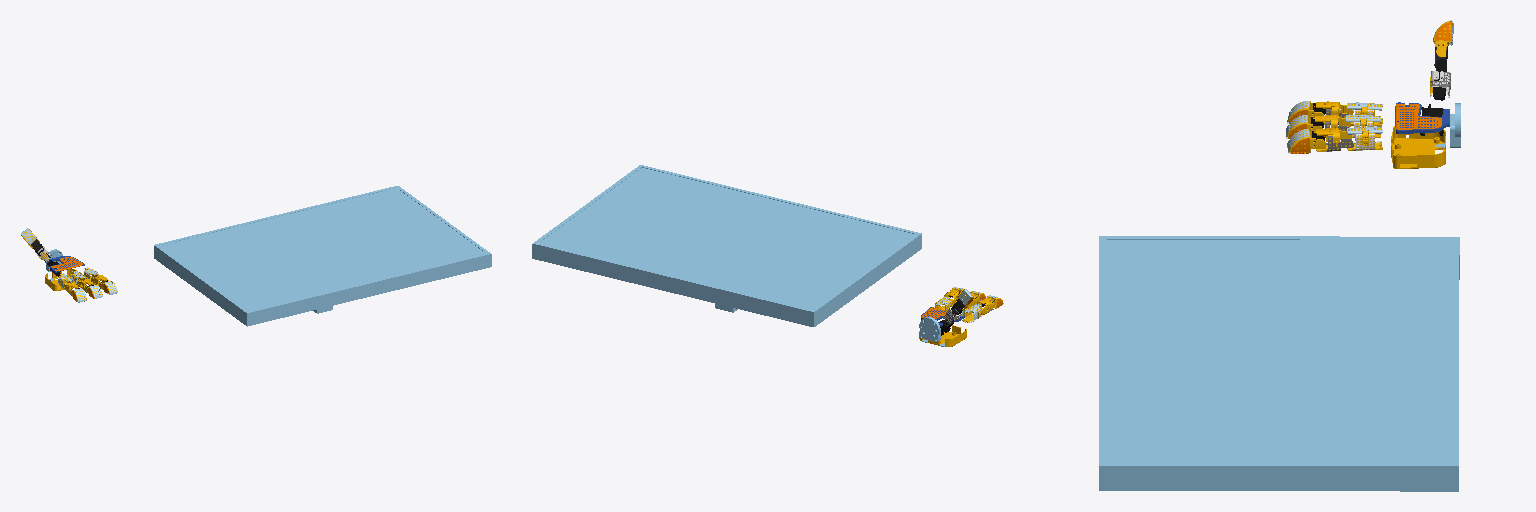
--- What the picture shows (computed from the rendered views, not written in the file) ---
3 views of the same robot in one strip: view 1: azimuth 30°, elevation 25°; view 2: azimuth 150°, elevation 25°; view 3: azimuth 270°, elevation 25° (orthographic).
Model ur5e_2f85 with 80 links and 79 joints (22 revolute, 57 fixed), rooted at world, posed all joints at 0 but 1 set to mid-range because 0 is outside their limits (joint_12_0 = 0.96).
Links seen in each view (by area): view 1: table_top; view 2: table_top; view 3: table_top, boh_bracket, palm_fpcb, palm_bracket.
Link boxes in pixels (box(x1,y1,x2,y2)): table_top: box(154, 186, 491, 326); table_top: box(532, 165, 921, 326); table_top: box(1099, 236, 1459, 491); boh_bracket: box(1391, 126, 1445, 168); palm_fpcb: box(1395, 104, 1441, 129); palm_bracket: box(1396, 102, 1449, 133).
Bounding box of the posed robot: 1.42 × 0.6092 × 0.3935 m (x, y, z).
Meshes: 38 distinct files referenced, 53 mesh visuals loaded (25 binary STL, 1 ASCII STL); not drawn: 19 (reference not matched to a file when rendering).

URDF robot description (ur5e_2f85):
<?xml version="1.0" ?>
<!-- =================================================================================== -->
<!-- |    This document was autogenerated by xacro from ur5e_workstation.urdf.xacro    | -->
<!-- |    EDITING THIS FILE BY HAND IS NOT RECOMMENDED                                 | -->
<!-- =================================================================================== -->
<robot name="ur5e_2f85">
  <!-- WORLD -->
  <link name="world"/>
  <!-- Table -->
  <link name="table_base">
    <visual>
      <origin rpy="0 0 0" xyz="0 0 0"/>
      <geometry>
        <mesh filename="package://coro_descriptions/meshes/small_vention_table.dae"/>
      </geometry>
    </visual>
    <collision>
      <origin rpy="0 0 0" xyz="0 0 0"/>
      <geometry>
        <mesh filename="package://coro_descriptions/meshes/small_vention_table.dae"/>
      </geometry>
    </collision>
    <inertial>
      <origin rpy="0 0 0" xyz="0 0 0"/>
      <mass value="20"/>
      <inertia ixx="1" ixy="0" ixz="0" iyx="0" iyy="1" iyz="0" izx="0" izy="0" izz="1"/>
    </inertial>
  </link>
  <!-- Table top -->
	<link name='table_top'>
		<inertial>
			<origin xyz="1.41182e-16 -6.13716e-17 -0.00229716" rpy="0 0 0"/>
			<mass value="1.88145" />
			<inertia ixx="0.132708" ixy="0"  ixz="0" iyy="0.0587177" iyz="0" izz="0.191419" />
		</inertial>
		<collision>
			<origin xyz="0 0 -0.0047" rpy="0 0 0" />
			<geometry>
				<mesh filename= "package://coro_descriptions/meshes/table_top.stl"/>
			</geometry>
		    <material name="table_top_material">
				<color rgba="0.615686 0.811765 0.929412 1.0"/>
			</material>
		</collision>
		<visual>
			<geometry>
				<mesh filename= "package://coro_descriptions/meshes/table_top.stl"/>
			</geometry>
		    <material name="table_top_material">
				<color rgba="0.615686 0.811765 0.929412 1.0"/>
			</material>>
		</visual>
	</link>

	<joint name='table_top_to_table_base' type='fixed'>
		<origin xyz="0.004217 -0.201201 0.97025" rpy="0 0 1.57"/>
		<parent link="table_base"/>
		<child link="table_top"/>
	</joint>

  <!-- Robot mount -->
  <link name="robot_mount"/>
  <joint name="robot_mount" type="fixed">
    <parent link="table_base"/>
    <child link="robot_mount"/>
    <origin rpy="0 0 3.1416" xyz="-0.0093 0.3375 0.99275"/>
    <!-- Coordinates taken from a CAD assembly -->
  </joint>
  <joint name="table_to_world" type="fixed">
    <parent link="world"/>
    <child link="table_base"/>
    <origin rpy="0 0 0" xyz="0 0 0"/>
  </joint>
  <!--
    Base UR robot series xacro macro.

    NOTE: this is NOT a URDF. It cannot directly be loaded by consumers
    expecting a flattened '.urdf' file. See the top-level '.xacro' for that
    (but note: that .xacro must still be processed by the xacro command).

    For use in '.launch' files: use one of the 'load_urX.launch' convenience
    launch files.

    This file models the base kinematic chain of a UR robot, which then gets
    parameterised by various configuration files to convert it into a UR3(e),
    UR5(e), UR10(e) or UR16e.

    NOTE: the default kinematic parameters (ie: link lengths, frame locations,
    offets, etc) do not correspond to any particular robot. They are defaults
    only. There WILL be non-zero offsets between the Forward Kinematics results
    in TF (ie: robot_state_publisher) and the values reported by the Teach
    Pendant.

    For accurate (and robot-specific) transforms, the 'kinematics_parameters_file'
    parameter MUST point to a .yaml file containing the appropriate values for
    the targetted robot.

    If using the UniversalRobots/Universal_Robots_ROS_Driver, follow the steps
    described in the readme of that repository to extract the kinematic
    calibration from the controller and generate the required .yaml file.

    Main author of the migration to yaml configs: Ludovic Delval.

    Contributors to previous versions (in no particular order):

     - Felix Messmer
     - Kelsey Hawkins
     - Wim Meeussen
     - Shaun Edwards
     - Nadia Hammoudeh Garcia
     - Dave Hershberger
     - G. vd. Hoorn
     - Philip Long
     - Dave Coleman
     - Miguel Prada
     - Mathias Luedtke
     - Marcel Schnirring
     - Felix von Drigalski
     - Felix Exner
     - Jimmy Da Silva
     - Ajit Krisshna N L
     - Muhammad Asif Rana
  -->
  <!--
    NOTE: the macro defined in this file is NOT part of the public API of this
          package. Users CANNOT rely on this file being available, or stored in
          this location. Nor can they rely on the existence of the macro.
  -->
  <transmission name="shoulder_pan_trans">
    <type>transmission_interface/SimpleTransmission</type>
    <joint name="shoulder_pan_joint">
      <hardwareInterface>hardware_interface/PositionJointInterface</hardwareInterface>
    </joint>
    <actuator name="shoulder_pan_motor">
      <mechanicalReduction>1</mechanicalReduction>
    </actuator>
  </transmission>
  <transmission name="shoulder_lift_trans">
    <type>transmission_interface/SimpleTransmission</type>
    <joint name="shoulder_lift_joint">
      <hardwareInterface>hardware_interface/PositionJointInterface</hardwareInterface>
    </joint>
    <actuator name="shoulder_lift_motor">
      <mechanicalReduction>1</mechanicalReduction>
    </actuator>
  </transmission>
  <transmission name="elbow_trans">
    <type>transmission_interface/SimpleTransmission</type>
    <joint name="elbow_joint">
      <hardwareInterface>hardware_interface/PositionJointInterface</hardwareInterface>
    </joint>
    <actuator name="elbow_motor">
      <mechanicalReduction>1</mechanicalReduction>
    </actuator>
  </transmission>
  <transmission name="wrist_1_trans">
    <type>transmission_interface/SimpleTransmission</type>
    <joint name="wrist_1_joint">
      <hardwareInterface>hardware_interface/PositionJointInterface</hardwareInterface>
    </joint>
    <actuator name="wrist_1_motor">
      <mechanicalReduction>1</mechanicalReduction>
    </actuator>
  </transmission>
  <transmission name="wrist_2_trans">
    <type>transmission_interface/SimpleTransmission</type>
    <joint name="wrist_2_joint">
      <hardwareInterface>hardware_interface/PositionJointInterface</hardwareInterface>
    </joint>
    <actuator name="wrist_2_motor">
      <mechanicalReduction>1</mechanicalReduction>
    </actuator>
  </transmission>
  <transmission name="wrist_3_trans">
    <type>transmission_interface/SimpleTransmission</type>
    <joint name="wrist_3_joint">
      <hardwareInterface>hardware_interface/PositionJointInterface</hardwareInterface>
    </joint>
    <actuator name="wrist_3_motor">
      <mechanicalReduction>1</mechanicalReduction>
    </actuator>
  </transmission>
  <!-- links: main serial chain -->
  <link name="base_link"/>
  <link name="base_link_inertia">
    <visual>
      <origin rpy="0 0 3.141592653589793" xyz="0 0 0"/>
      <geometry>
        <mesh filename="package://ur_description/meshes/ur5e/visual/base.dae"/>
      </geometry>
      <material name="LightGrey">
        <color rgba="0.7 0.7 0.7 1.0"/>
      </material>
    </visual>
    <collision>
      <origin rpy="0 0 3.141592653589793" xyz="0 0 0"/>
      <geometry>
        <mesh filename="package://ur_description/meshes/ur5e/collision/base.stl"/>
      </geometry>
    </collision>
    <inertial>
      <mass value="4.0"/>
      <origin rpy="0 0 0" xyz="0 0 0"/>
      <inertia ixx="0.00443333156" ixy="0.0" ixz="0.0" iyy="0.00443333156" iyz="0.0" izz="0.0072"/>
    </inertial>
  </link>
  <link name="shoulder_link">
    <visual>
      <origin rpy="0 0 3.141592653589793" xyz="0 0 0"/>
      <geometry>
        <mesh filename="package://ur_description/meshes/ur5e/visual/shoulder.dae"/>
      </geometry>
      <material name="LightGrey">
        <color rgba="0.7 0.7 0.7 1.0"/>
      </material>
    </visual>
    <collision>
      <origin rpy="0 0 3.141592653589793" xyz="0 0 0"/>
      <geometry>
        <mesh filename="package://ur_description/meshes/ur5e/collision/shoulder.stl"/>
      </geometry>
    </collision>
    <inertial>
      <mass value="3.7"/>
      <origin rpy="0 0 0" xyz="0 0 0"/>
      <inertia ixx="0.010267495893" ixy="0.0" ixz="0.0" iyy="0.010267495893" iyz="0.0" izz="0.00666"/>
    </inertial>
  </link>
  <link name="upper_arm_link">
    <visual>
      <origin rpy="1.5707963267948966 0 -1.5707963267948966" xyz="0 0 0.138"/>
      <geometry>
        <mesh filename="package://ur_description/meshes/ur5e/visual/upperarm.dae"/>
      </geometry>
      <material name="LightGrey">
        <color rgba="0.7 0.7 0.7 1.0"/>
      </material>
    </visual>
    <collision>
      <origin rpy="1.5707963267948966 0 -1.5707963267948966" xyz="0 0 0.138"/>
      <geometry>
        <mesh filename="package://ur_description/meshes/ur5e/collision/upperarm.stl"/>
      </geometry>
    </collision>
    <inertial>
      <mass value="8.393"/>
      <origin rpy="0 1.5707963267948966 0" xyz="-0.2125 0.0 0.138"/>
      <inertia ixx="0.1338857818623325" ixy="0.0" ixz="0.0" iyy="0.1338857818623325" iyz="0.0" izz="0.0151074"/>
    </inertial>
  </link>
  <link name="forearm_link">
    <visual>
      <origin rpy="1.5707963267948966 0 -1.5707963267948966" xyz="0 0 0.007"/>
      <geometry>
        <mesh filename="package://ur_description/meshes/ur5e/visual/forearm.dae"/>
      </geometry>
      <material name="LightGrey">
        <color rgba="0.7 0.7 0.7 1.0"/>
      </material>
    </visual>
    <collision>
      <origin rpy="1.5707963267948966 0 -1.5707963267948966" xyz="0 0 0.007"/>
      <geometry>
        <mesh filename="package://ur_description/meshes/ur5e/collision/forearm.stl"/>
      </geometry>
    </collision>
    <inertial>
      <mass value="2.275"/>
      <origin rpy="0 1.5707963267948966 0" xyz="-0.1961 0.0 0.007"/>
      <inertia ixx="0.031209355099586295" ixy="0.0" ixz="0.0" iyy="0.031209355099586295" iyz="0.0" izz="0.004095"/>
    </inertial>
  </link>
  <link name="wrist_1_link">
    <visual>
      <!-- TODO: Move this to a parameter -->
      <origin rpy="1.5707963267948966 0 0" xyz="0 0 -0.127"/>
      <geometry>
        <mesh filename="package://ur_description/meshes/ur5e/visual/wrist1.dae"/>
      </geometry>
      <material name="LightGrey">
        <color rgba="0.7 0.7 0.7 1.0"/>
      </material>
    </visual>
    <collision>
      <origin rpy="1.5707963267948966 0 0" xyz="0 0 -0.127"/>
      <geometry>
        <mesh filename="package://ur_description/meshes/ur5e/collision/wrist1.stl"/>
      </geometry>
    </collision>
    <inertial>
      <mass value="1.219"/>
      <origin rpy="0 0 0" xyz="0 0 0"/>
      <inertia ixx="0.0025598989760400002" ixy="0.0" ixz="0.0" iyy="0.0025598989760400002" iyz="0.0" izz="0.0021942"/>
    </inertial>
  </link>
  <link name="wrist_2_link">
    <visual>
      <origin rpy="0 0 0" xyz="0 0 -0.0997"/>
      <geometry>
        <mesh filename="package://ur_description/meshes/ur5e/visual/wrist2.dae"/>
      </geometry>
      <material name="LightGrey">
        <color rgba="0.7 0.7 0.7 1.0"/>
      </material>
    </visual>
    <collision>
      <origin rpy="0 0 0" xyz="0 0 -0.0997"/>
      <geometry>
        <mesh filename="package://ur_description/meshes/ur5e/collision/wrist2.stl"/>
      </geometry>
    </collision>
    <inertial>
      <mass value="1.219"/>
      <origin rpy="0 0 0" xyz="0 0 0"/>
      <inertia ixx="0.0025598989760400002" ixy="0.0" ixz="0.0" iyy="0.0025598989760400002" iyz="0.0" izz="0.0021942"/>
    </inertial>
  </link>
  <link name="wrist_3_link">
    <visual>
      <origin rpy="1.5707963267948966 0 1.5707963267948966" xyz="0 0 -0.0989"/>
      <geometry>
        <mesh filename="package://ur_description/meshes/ur5e/visual/wrist3.dae"/>
      </geometry>
      <material name="LightGrey">
        <color rgba="0.7 0.7 0.7 1.0"/>
      </material>
    </visual>
    <collision>
      <origin rpy="1.5707963267948966 0 1.5707963267948966" xyz="0 0 -0.0989"/>
      <geometry>
        <mesh filename="package://ur_description/meshes/ur5e/collision/wrist3.stl"/>
      </geometry>
    </collision>
    <inertial>
      <mass value="0.1879"/>
      <origin rpy="0 0 0" xyz="0.0 0.0 -0.0229"/>
      <inertia ixx="9.890410052167731e-05" ixy="0.0" ixz="0.0" iyy="9.890410052167731e-05" iyz="0.0" izz="0.0001321171875"/>
    </inertial>
  </link>
  <!-- joints: main serial chain -->
  <joint name="base_link-base_link_inertia" type="fixed">
    <parent link="base_link"/>
    <child link="base_link_inertia"/>
    <!-- 'base_link' is REP-103 aligned (so X+ forward), while the internal
           frames of the robot/controller have X+ pointing backwards.
           Use the joint between 'base_link' and 'base_link_inertia' (a dummy
           link/frame) to introduce the necessary rotation over Z (of pi rad).
      -->
    <origin rpy="0 0 3.141592653589793" xyz="0 0 0"/>
  </joint>
  <joint name="shoulder_pan_joint" type="revolute">
    <parent link="base_link_inertia"/>
    <child link="shoulder_link"/>
    <origin rpy="0 0 0" xyz="0 0 0.1625"/>
    <axis xyz="0 0 1"/>
    <limit effort="150.0" lower="-6.283185307179586" upper="6.283185307179586" velocity="3.141592653589793"/>
    <dynamics damping="0" friction="0"/>
  </joint>
  <joint name="shoulder_lift_joint" type="revolute">
    <parent link="shoulder_link"/>
    <child link="upper_arm_link"/>
    <origin rpy="1.570796327 0 0" xyz="0 0 0"/>
    <axis xyz="0 0 1"/>
    <limit effort="150.0" lower="-6.283185307179586" upper="6.283185307179586" velocity="3.141592653589793"/>
    <dynamics damping="0" friction="0"/>
  </joint>
  <joint name="elbow_joint" type="revolute">
    <parent link="upper_arm_link"/>
    <child link="forearm_link"/>
    <origin rpy="0 0 0" xyz="-0.425 0 0"/>
    <axis xyz="0 0 1"/>
    <limit effort="150.0" lower="-3.141592653589793" upper="3.141592653589793" velocity="3.141592653589793"/>
    <dynamics damping="0" friction="0"/>
  </joint>
  <joint name="wrist_1_joint" type="revolute">
    <parent link="forearm_link"/>
    <child link="wrist_1_link"/>
    <origin rpy="0 0 0" xyz="-0.3922 0 0.1333"/>
    <axis xyz="0 0 1"/>
    <limit effort="28.0" lower="-6.283185307179586" upper="6.283185307179586" velocity="3.141592653589793"/>
    <dynamics damping="0" friction="0"/>
  </joint>
  <joint name="wrist_2_joint" type="revolute">
    <parent link="wrist_1_link"/>
    <child link="wrist_2_link"/>
    <origin rpy="1.570796327 0 0" xyz="0 -0.0997 -2.044881182297852e-11"/>
    <axis xyz="0 0 1"/>
    <limit effort="28.0" lower="-6.283185307179586" upper="6.283185307179586" velocity="3.141592653589793"/>
    <dynamics damping="0" friction="0"/>
  </joint>
  <joint name="wrist_3_joint" type="revolute">
    <parent link="wrist_2_link"/>
    <child link="wrist_3_link"/>
    <origin rpy="1.570796326589793 4.71238898018 3.141592653589793" xyz="0 0.0996 -2.042830148012698e-11"/>
    <axis xyz="0 0 1"/>
    <limit effort="28.0" lower="-6.283185307179586" upper="6.283185307179586" velocity="3.141592653589793"/>
    <dynamics damping="0" friction="0"/>
  </joint>
  <!-- ROS-Industrial 'base' frame: base_link to UR 'Base' Coordinates transform -->
  <link name="base"/>
  <joint name="base_link-base_fixed_joint" type="fixed">
    <!-- Note the rotation over Z of pi radians: as base_link is REP-103
           aligned (ie: has X+ forward, Y+ left and Z+ up), this is needed
           to correctly align 'base' with the 'Base' coordinate system of
           the UR controller.
      -->
    <origin rpy="0 0 3.141592653589793" xyz="0 0 0"/>
    <parent link="base_link"/>
    <child link="base"/>
  </joint>
  <!-- ROS-Industrial 'flange' frame: attachment point for EEF models -->
  <link name="flange"/>
  <joint name="wrist_3-flange" type="fixed">
    <parent link="wrist_3_link"/>
    <child link="flange"/>
    <origin rpy="0 -1.5707963267948966 -1.5707963267948966" xyz="0 0 0"/>
  </joint>
  <!-- ROS-Industrial 'tool0' frame: all-zeros tool frame -->
  <link name="tool0"/>
  <joint name="flange-tool0" type="fixed">
    <!-- default toolframe: X+ left, Y+ up, Z+ front -->
    <origin rpy="1.5707963267948966 0 1.5707963267948966" xyz="0 0 0"/>
    <parent link="flange"/>
    <child link="tool0"/>
  </joint>
  <joint name="robot_to_table" type="fixed">
    <parent link="robot_mount"/>
    <child link="base_link"/>
    <origin rpy="0 0 0" xyz="0 0 0"/>
  </joint>
  <link name="ur_bracket">
    <visual>
      <origin rpy="0 -0 0" xyz="0 0 0"/>
      <geometry>
        <mesh filename="package://coro_descriptions/meshes/ur_bracket.stl"/>
      </geometry>
      <material name="ur_bracket_material">
        <color rgba="0.615686 0.811765 0.929412 1.0"/>
      </material>
    </visual>
    <collision>
      <origin rpy="0 -0 0" xyz="0 0 0"/>
      <geometry>
        <mesh filename="package://coro_descriptions/meshes/ur_bracket.stl"/>
      </geometry>
      <material name="ur_bracket_material">
        <color rgba="0.615686 0.811765 0.929412 1.0"/>
      </material>
    </collision>
    <inertial>
      <origin rpy="0 0 0" xyz="0.0271498 0.0180673 -0.00967187"/>
      <mass value="0.05307"/>
      <inertia ixx="1.71151e-05" ixy="0" ixz="0" iyy="1.50513e-05" iyz="1.25799e-06" izz="2.94394e-05"/>
    </inertial>
  </link>
  <!-- Mount the coupling to the robot side -->
  <joint name="coupling_robot_fix" type="fixed">
    <origin rpy="0 0 1.5707963267948966" xyz="0 0 0.01"/>
    <parent link="tool0"/>
    <child link="ur_bracket"/>
  </joint>
  <!-- Mount the gripper to the coupling -->
  <link name="coupling_gripper_fix"/>
  <joint name="coupling_to_gripper" type="fixed">
    <parent link="ur_bracket"/>
    <child link="coupling_gripper_fix"/>
    <origin rpy="0 0 0" xyz="0 0 0"/>
  </joint>
  <!-- GRIPPER -->
  <joint name="gripper_base_joint" type="fixed">
    <origin rpy="0 0 0" xyz="0 -0.041 0.105"/>
    <parent link="coupling_gripper_fix"/>
    <child link="palm_link"/>
  </joint>
  <link name="palm_link">
    <visual>
      <origin rpy="3.14159 -0 0" xyz="0 0.034 -0.002"/>
      <geometry>
        <mesh filename="package://allegro_hand_description/meshes/g_r2.stl"/>
      </geometry>
      <material name="g_r2_material">
        <color rgba="0.2 0.2 0.2 1.0"/>
      </material>
    </visual>
    <collision>
      <origin rpy="3.14159 -0 0" xyz="0 0.034 -0.002"/>
      <geometry>
        <mesh filename="package://allegro_hand_description/meshes/g_r2.stl"/>
      </geometry>
      <material name="g_r2_material">
        <color rgba="0.2 0.2 0.2 1.0"/>
      </material>
    </collision>
    <inertial>
      <origin rpy="0 0 0" xyz="-0.00043535 0.0160404 -0.0404815"/>
      <mass value="0.404445"/>
      <inertia ixx="0.000491371" ixy="-9.01723e-06" ixz="1.17974e-05" iyy="0.000773265" iyz="-5.50867e-06" izz="0.000547843"/>
    </inertial>
  </link>
  <link name="link_0">
    <visual>
      <origin rpy="1.5708 6.16298e-33 -5.3926e-33" xyz="0 6.93889e-18 -0.0152"/>
      <geometry>
        <mesh filename="package://allegro_hand_description/meshes/extended_finger_base.stl"/>
      </geometry>
      <material name="extended_finger_base_material">
        <color rgba="0.647059 0.647059 0.647059 1.0"/>
      </material>
    </visual>
    <collision>
      <origin rpy="1.5708 6.16298e-33 -5.3926e-33" xyz="0 6.93889e-18 -0.0152"/>
      <geometry>
        <mesh filename="package://allegro_hand_description/meshes/extended_finger_base.stl"/>
      </geometry>
      <material name="extended_finger_base_material">
        <color rgba="0.647059 0.647059 0.647059 1.0"/>
      </material>
    </collision>
    <inertial>
      <origin rpy="0 0 0" xyz="-0.00041342 0.000666149 0.00960564"/>
      <mass value="0.0136672"/>
      <inertia ixx="2.13441e-06" ixy="5.86704e-10" ixz="-7.9563e-08" iyy="1.24411e-06" iyz="-6.13056e-08" izz="1.671e-06"/>
    </inertial>
  </link>
  <link name="link_1">
    <visual>
      <origin rpy="4.1618e-29 1.48353 -3.14159" xyz="-0.0182688 0 -0.0317805"/>
      <geometry>
        <mesh filename="package://allegro_hand_description/meshes/p2_r6.stl"/>
      </geometry>
      <material name="p2_r6_material">
        <color rgba="0.129412 0.129412 0.129412 1.0"/>
      </material>
    </visual>
    <collision>
      <origin rpy="4.1618e-29 1.48353 -3.14159" xyz="-0.0182688 0 -0.0317805"/>
      <geometry>
        <mesh filename="package://allegro_hand_description/meshes/p2_r6.stl"/>
      </geometry>
      <material name="p2_r6_material">
        <color rgba="0.129412 0.129412 0.129412 1.0"/>
      </material>
    </collision>
    <inertial>
      <origin rpy="0 0 0" xyz="0.027 9.54536e-05 0.0124409"/>
      <mass value="0.0418346"/>
      <inertia ixx="4.00114e-06" ixy="-1.81985e-08" ixz="-4.42841e-15" iyy="1.97927e-05" iyz="1.59578e-08" izz="1.88563e-05"/>
    </inertial>
  </link>
  <link name="link_2">
    <visual>
      <origin rpy="-4.37532e-31 1.48353 -2.11032e-30" xyz="0.0722688 -3.46945e-17 -0.0317805"/>
      <geometry>
        <mesh filename="package://allegro_hand_description/meshes/extended_fingertop.stl"/>
      </geometry>
      <material name="extended_fingertop_material">
        <color rgba="0.647059 0.647059 0.647059 1.0"/>
      </material>
    </visual>
    <collision>
      <origin rpy="-4.37532e-31 1.48353 -2.11032e-30" xyz="0.0722688 -3.46945e-17 -0.0317805"/>
      <geometry>
        <mesh filename="package://allegro_hand_description/meshes/extended_fingertop.stl"/>
      </geometry>
      <material name="extended_fingertop_material">
        <color rgba="0.647059 0.647059 0.647059 1.0"/>
      </material>
    </collision>
    <inertial>
      <origin rpy="0 0 0" xyz="-0.0294592 -0.000104104 0.0123435"/>
      <mass value="0.0318021"/>
      <inertia ixx="3.48619e-06" ixy="1.20808e-07" ixz="6.2918e-07" iyy="8.82437e-06" iyz="5.78644e-09" izz="7.34771e-06"/>
    </inertial>
  </link>
  <link name="link_3">
    <visual>
      <origin rpy="-3.14159 -2.46519e-32 -1.5708" xyz="0.1253 -5.55112e-17 0.0118"/>
      <geometry>
        <mesh filename="package://allegro_hand_description/meshes/p4_r.stl"/>
      </geometry>
      <material name="p4_r_material">
        <color rgba="0.129412 0.129412 0.129412 1.0"/>
      </material>
    </visual>
    <collision>
      <origin rpy="-3.14159 -2.46519e-32 -1.5708" xyz="0.1253 -5.55112e-17 0.0118"/>
      <geometry>
        <mesh filename="package://allegro_hand_description/meshes/p4_r.stl"/>
      </geometry>
      <material name="p4_r_material">
        <color rgba="0.129412 0.129412 0.129412 1.0"/>
      </material>
    </collision>
    <inertial>
      <origin rpy="0 0 0" xyz="-0.0100051 0.000639363 0.0123057"/>
      <mass value="0.0088374"/>
      <inertia ixx="1.08072e-06" ixy="-4.65695e-08" ixz="-3.42321e-08" iyy="1.11236e-06" iyz="-8.85024e-10" izz="5.61586e-07"/>
    </inertial>
  </link>
  <link name="ift_bracket">
    <visual>
      <origin rpy="-3.14159 -4.59709e-18 -1.08476e-31" xyz="-0.1139 -0.004 0.0135"/>
      <geometry>
        <mesh filename="package://allegro_hand_description/meshes/distal_pcbbase.stl"/>
      </geometry>
      <material name="distal_pcbbase_material">
        <color rgba="1 0.756863 0.054902 1.0"/>
      </material>
    </visual>
    <collision>
      <origin rpy="-3.14159 -4.59709e-18 -1.08476e-31" xyz="-0.1139 -0.004 0.0135"/>
      <geometry>
        <mesh filename="package://allegro_hand_description/meshes/distal_pcbbase.stl"/>
      </geometry>
      <material name="distal_pcbbase_material">
        <color rgba="1 0.756863 0.054902 1.0"/>
      </material>
    </collision>
    <inertial>
      <origin rpy="0 0 0" xyz="0.0170719 -0.00112911 0.0135244"/>
      <mass value="0.0155109"/>
      <inertia ixx="3.339e-06" ixy="-4.60426e-07" ixz="1.73449e-08" iyy="6.13257e-06" iyz="-6.39964e-10" izz="4.49513e-06"/>
    </inertial>
  </link>
  <link name="index_fingertip_main_fpcb">
    <visual>
      <origin rpy="-3.14159 -1.01561e-17 -5.74754e-32" xyz="-0.12166 0.01366 6.93889e-18"/>
      <geometry>
        <mesh filename="package://allegro_hand_description/meshes/distal_fpcb_1.stl"/>
      </geometry>
      <material name="distal_fpcb_1_material">
        <color rgba="0.768627 0.886275 0.952941 1.0"/>
      </material>
    </visual>
    <collision>
      <origin rpy="-3.14159 -1.01561e-17 -5.74754e-32" xyz="-0.12166 0.01366 6.93889e-18"/>
      <geometry>
        <mesh filename="package://allegro_hand_description/meshes/distal_fpcb_1.stl"/>
      </geometry>
      <material name="distal_fpcb_1_material">
        <color rgba="0.768627 0.886275 0.952941 1.0"/>
      </material>
    </collision>
    <inertial>
      <origin rpy="0 0 0" xyz="0.0183062 0.0208616 2.89858e-05"/>
      <mass value="0.00142203"/>
      <inertia ixx="3.14637e-07" ixy="-2.70173e-08" ixz="2.90739e-11" iyy="3.18951e-07" iyz="-3.25215e-10" izz="4.09623e-07"/>
    </inertial>
  </link>
  <joint name="joint_index_fingertip_main_fpcb" type="fixed">
    <origin rpy="3.95134e-15 -6.07352e-15 -3.889e-30" xyz="0.00776046 -0.01766 0.0135"/>
    <parent link="ift_bracket"/>
    <child link="index_fingertip_main_fpcb"/>
    <axis xyz="0 0 1"/>
    <limit effort="1" velocity="20"/>
    <joint_properties friction="0.0"/>
  </joint>
  <link name="index_fingertip_side_fpcb">
    <visual>
      <origin rpy="-1.32916e-32 6.97161e-18 -4.03248e-31" xyz="-0.153816 0.0136001 -0.0162593"/>
      <geometry>
        <mesh filename="package://allegro_hand_description/meshes/distal_fpcb_2.stl"/>
      </geometry>
      <material name="distal_fpcb_2_material">
        <color rgba="0.972549 0.529412 0.00392157 1.0"/>
      </material>
    </visual>
    <collision>
      <origin rpy="-1.32916e-32 6.97161e-18 -4.03248e-31" xyz="-0.153816 0.0136001 -0.0162593"/>
      <geometry>
        <mesh filename="package://allegro_hand_description/meshes/distal_fpcb_2.stl"/>
      </geometry>
      <material name="distal_fpcb_2_material">
        <color rgba="0.972549 0.529412 0.00392157 1.0"/>
      </material>
    </collision>
    <inertial>
      <origin rpy="0 0 0" xyz="-0.0175916 0.00317983 -0.0164175"/>
      <mass value="0.00128609"/>
      <inertia ixx="3.5341e-07" ixy="2.54188e-08" ixz="-2.1826e-09" iyy="3.67946e-07" iyz="1.2158e-09" izz="1.99436e-07"/>
    </inertial>
  </link>
  <joint name="joint_index_fingertip_side_fpcb" type="fixed">
    <origin rpy="-3.14159 1.29682e-17 1.10568e-30" xyz="0.0399163 0.0096 -0.00275858"/>
    <parent link="ift_bracket"/>
    <child link="index_fingertip_side_fpcb"/>
    <axis xyz="0 0 1"/>
    <limit effort="1" velocity="20"/>
    <joint_properties friction="0.0"/>
  </joint>
  <joint name="joint_index_fingertip_bracket" type="fixed">
    <origin rpy="3.14159 -5.14611e-15 3.14159" xyz="-0.0135 0.004 0.0254"/>
    <parent link="link_3"/>
    <child link="ift_bracket"/>
    <axis xyz="0 0 1"/>
    <limit effort="1" velocity="20"/>
    <joint_properties friction="0.0"/>
  </joint>
  <joint name="joint_3_0" type="revolute">
    <origin rpy="-4.33522e-16 1.57792e-15 -7.74196e-17" xyz="-0.04615 2.77556e-17 0.0001"/>
    <parent link="link_2"/>
    <child link="link_3"/>
    <axis xyz="0 0 1"/>
    <limit effort="15" lower="0" upper="1.47" velocity="20"/>
    <dynamics damping="1" friction="0.5"/>
    <gazebo>
      <implicitSpringDamper> true </implicitSpringDamper>
    </gazebo>
  </joint>
  <!-- *************************************Transmission************************************** -->
  <transmission name="trans_3_0">
    <type>transmission_interface/SimpleTransmission</type>
    <joint name="joint_3_0">
      <hardwareInterface>hardware_interface/EffortJointInterface</hardwareInterface>
    </joint>
    <actuator name="motor_3_0">
      <mechanicalReduction>1</mechanicalReduction>
    </actuator>
  </transmission>
  <!-- *************************************Transmission************************************** -->
  <link name="imf_bracket">
    <visual>
      <origin rpy="1.02267e-31 1.4662e-17 -1.62518e-30" xyz="-0.0755 -0.004 0.014"/>
      <geometry>
        <mesh filename="package://allegro_hand_description/meshes/medial_front.stl"/>
      </geometry>
      <material name="medial_front_material">
        <color rgba="1 0.756863 0.054902 1.0"/>
      </material>
    </visual>
    <collision>
      <origin rpy="1.02267e-31 1.4662e-17 -1.62518e-30" xyz="-0.0755 -0.004 0.014"/>
      <geometry>
        <mesh filename="package://allegro_hand_description/meshes/medial_front.stl"/>
      </geometry>
      <material name="medial_front_material">
        <color rgba="1 0.756863 0.054902 1.0"/>
      </material>
    </collision>
    <inertial>
      <origin rpy="0 0 0" xyz="0.00469281 0.00336791 0.0198072"/>
      <mass value="0.00473232"/>
      <inertia ixx="8.28869e-07" ixy="-2.96994e-07" ixz="2.53991e-07" iyy="1.55762e-06" iyz="2.23567e-07" izz="1.28629e-06"/>
    </inertial>
  </link>
  <link name="index_medial_front_fpcb">
    <visual>
      <origin rpy="-1.5708 -1.5708 0" xyz="-0.0129 0.0096 -0.1092"/>
      <geometry>
        <mesh filename="package://allegro_hand_description/meshes/medial_front_fpcb.stl"/>
      </geometry>
      <material name="medial_front_fpcb_material">
        <color rgba="0.980392 0.713725 0.00392157 1.0"/>
      </material>
    </visual>
    <collision>
      <origin rpy="-1.5708 -1.5708 0" xyz="-0.0129 0.0096 -0.1092"/>
      <geometry>
        <mesh filename="package://allegro_hand_description/meshes/medial_front_fpcb.stl"/>
      </geometry>
      <material name="medial_front_fpcb_material">
        <color rgba="0.980392 0.713725 0.00392157 1.0"/>
      </material>
    </collision>
    <inertial>
      <origin rpy="0 0 0" xyz="-0.00409182 0.0164946 -0.0268705"/>
      <mass value="0.00086951"/>
      <inertia ixx="2.73483e-07" ixy="9.10299e-08" ixz="5.0825e-08" iyy="1.4757e-07" iyz="-6.87648e-08" izz="3.07195e-07"/>
    </inertial>
  </link>
  <joint name="joint_index_medial_front_fpcb" type="fixed">
    <origin rpy="1.5708 -4.84955e-31 1.5708" xyz="0.0337 0.0089 0.0044"/>
    <parent link="imf_bracket"/>
    <child link="index_medial_front_fpcb"/>
    <axis xyz="0 0 1"/>
    <limit effort="1" velocity="20"/>
    <joint_properties friction="0.0"/>
  </joint>
  <joint name="joint_index_medial_front_bracket" type="fixed">
    <origin rpy="6.04764e-19 8.37023e-19 3.14159" xyz="-0.0215 -0.004 -0.0021"/>
    <parent link="link_2"/>
    <child link="imf_bracket"/>
    <axis xyz="0 0 1"/>
    <limit effort="1" velocity="20"/>
    <joint_properties friction="0.0"/>
  </joint>
  <link name="imb_bracket">
    <visual>
      <origin rpy="-3.14159 1.05207e-17 -8.74306e-31" xyz="-0.0755 -0.004 0.014"/>
      <geometry>
        <mesh filename="package://allegro_hand_description/meshes/medial_back.stl"/>
      </geometry>
      <material name="medial_back_material">
        <color rgba="1 0.756863 0.054902 1.0"/>
      </material>
    </visual>
    <collision>
      <origin rpy="-3.14159 1.05207e-17 -8.74306e-31" xyz="-0.0755 -0.004 0.014"/>
      <geometry>
        <mesh filename="package://allegro_hand_description/meshes/medial_back.stl"/>
      </geometry>
      <material name="medial_back_material">
        <color rgba="1 0.756863 0.054902 1.0"/>
      </material>
    </collision>
    <inertial>
      <origin rpy="0 0 0" xyz="0.0050369 0.00536951 0.0198823"/>
      <mass value="0.00531302"/>
      <inertia ixx="1.01036e-06" ixy="-2.70353e-07" ixz="2.64599e-07" iyy="1.7622e-06" iyz="2.24575e-07" izz="1.4134e-06"/>
    </inertial>
  </link>
  <link name="index_medial_back_fpcb">
    <visual>
      <origin rpy="-1.5708 -1.5708 0" xyz="0.0145 -0.014 -0.1092"/>
      <geometry>
        <mesh filename="package://allegro_hand_description/meshes/medial_back_fpcb.stl"/>
      </geometry>
      <material name="medial_back_fpcb_material">
        <color rgba="0.498039 0.498039 0.498039 1.0"/>
      </material>
    </visual>
    <collision>
      <origin rpy="-1.5708 -1.5708 0" xyz="0.0145 -0.014 -0.1092"/>
      <geometry>
        <mesh filename="package://allegro_hand_description/meshes/medial_back_fpcb.stl"/>
      </geometry>
      <material name="medial_back_fpcb_material">
        <color rgba="0.498039 0.498039 0.498039 1.0"/>
      </material>
    </collision>
    <inertial>
      <origin rpy="0 0 0" xyz="0.0031423 -0.0198367 -0.0257098"/>
      <mass value="0.000991462"/>
      <inertia ixx="2.93113e-07" ixy="-9.38799e-08" ixz="5.77704e-08" iyy="1.96504e-07" iyz="6.0309e-08" izz="3.52075e-07"/>
    </inertial>
  </link>
  <joint name="joint_index_medial_back_fpcb" type="fixed">
    <origin rpy="-1.5708 4.62281e-16 -1.5708" xyz="0.0337 0.0105 -1.73472e-16"/>
    <parent link="imb_bracket"/>
    <child link="index_medial_back_fpcb"/>
    <axis xyz="0 0 1"/>
    <limit effort="1" velocity="20"/>
    <joint_properties friction="0.0"/>
  </joint>
  <joint name="joint_index_medial_back_bracket" type="fixed">
    <origin rpy="3.14159 4.76628e-16 -3.14159" xyz="-0.0215 0.004 0.0259"/>
    <parent link="link_2"/>
    <child link="imb_bracket"/>
    <axis xyz="0 0 1"/>
    <limit effort="1" velocity="20"/>
    <joint_properties friction="0.0"/>
  </joint>
  <joint name="joint_2_0" type="revolute">
    <origin rpy="-1.93545e-14 4.22599e-15 -3.14159" xyz="0.054 2.28983e-16 7.63278e-17"/>
    <parent link="link_1"/>
    <child link="link_2"/>
    <axis xyz="0 0 1"/>
    <limit effort="15" lower="0" upper="1.5" velocity="20"/>
    <dynamics damping="1" friction="0.5"/>
    <gazebo>
      <implicitSpringDamper> true </implicitSpringDamper>
    </gazebo>
  </joint>
  <!-- *************************************Transmission************************************** -->
  <transmission name="trans_2_0">
    <type>transmission_interface/SimpleTransmission</type>
    <joint name="joint_2_0">
      <hardwareInterface>hardware_interface/EffortJointInterface</hardwareInterface>
    </joint>
    <actuator name="motor_2_0">
      <mechanicalReduction>1</mechanicalReduction>
    </actuator>
  </transmission>
  <!-- *************************************Transmission************************************** -->
  <link name="ipb_bracket">
    <visual>
      <origin rpy="-3.14159 -1.02743e-17 -5.1406e-31" xyz="-0.0249 -0.0037 0.014"/>
      <geometry>
        <mesh filename="package://allegro_hand_description/meshes/proximal_back.stl"/>
      </geometry>
      <material name="proximal_back_material">
        <color rgba="1 0.756863 0.054902 1.0"/>
      </material>
    </visual>
    <collision>
      <origin rpy="-3.14159 -1.02743e-17 -5.1406e-31" xyz="-0.0249 -0.0037 0.014"/>
      <geometry>
        <mesh filename="package://allegro_hand_description/meshes/proximal_back.stl"/>
      </geometry>
      <material name="proximal_back_material">
        <color rgba="1 0.756863 0.054902 1.0"/>
      </material>
    </collision>
    <inertial>
      <origin rpy="0 0 0" xyz="0.00190421 0.00603324 0.0192417"/>
      <mass value="0.00681742"/>
      <inertia ixx="1.33469e-06" ixy="-1.25087e-08" ixz="-1.65721e-09" iyy="2.12223e-06" iyz="3.02232e-07" izz="1.86525e-06"/>
    </inertial>
  </link>
  <link name="index_proximal_back_fpcb">
    <visual>
      <origin rpy="-1.5708 4.10881e-31 -1.43049e-17" xyz="0.0028 -0.0131 -0.0136"/>
      <geometry>
        <mesh filename="package://allegro_hand_description/meshes/proximal_back_fpcb.stl"/>
      </geometry>
      <material name="proximal_back_fpcb_material">
        <color rgba="0.917647 0.917647 0.917647 1.0"/>
      </material>
    </visual>
    <collision>
      <origin rpy="-1.5708 4.10881e-31 -1.43049e-17" xyz="0.0028 -0.0131 -0.0136"/>
      <geometry>
        <mesh filename="package://allegro_hand_description/meshes/proximal_back_fpcb.stl"/>
      </geometry>
      <material name="proximal_back_fpcb_material">
        <color rgba="0.917647 0.917647 0.917647 1.0"/>
      </material>
    </collision>
    <inertial>
      <origin rpy="0 0 0" xyz="0.0298338 -0.0157289 -0.000514151"/>
      <mass value="0.00110296"/>
      <inertia ixx="2.17583e-07" ixy="-7.11341e-10" ixz="-5.50926e-10" iyy="3.62763e-07" iyz="-5.1761e-08" izz="4.40838e-07"/>
    </inertial>
  </link>
  <joint name="joint_index_proximal_back_fpcb" type="fixed">
    <origin rpy="-1.5708 -1.40936e-17 -4.33377e-16" xyz="-0.0277 0.0099 0.0009"/>
    <parent link="ipb_bracket"/>
    <child link="index_proximal_back_fpcb"/>
    <axis xyz="0 0 1"/>
    <limit effort="1" velocity="20"/>
    <joint_properties friction="0.0"/>
  </joint>
  <joint name="joint_index_proximal_back_bracket" type="fixed">
    <origin rpy="-3.14159 -4.95527e-15 -2.49458e-28" xyz="0.0249 -0.0037 0.0253"/>
    <parent link="link_1"/>
    <child link="ipb_bracket"/>
    <axis xyz="0 0 1"/>
    <limit effort="1" velocity="20"/>
    <joint_properties friction="0.0"/>
  </joint>
  <link name="ipf_bracket">
    <visual>
      <origin rpy="3.99065e-30 -1.09742e-19 -6.90794e-32" xyz="-0.0249 -0.0077 0.014"/>
      <geometry>
        <mesh filename="package://allegro_hand_description/meshes/proximal_front.stl"/>
      </geometry>
      <material name="proximal_front_material">
        <color rgba="1 0.756863 0.054902 1.0"/>
      </material>
    </visual>
    <collision>
      <origin rpy="3.99065e-30 -1.09742e-19 -6.90794e-32" xyz="-0.0249 -0.0077 0.014"/>
      <geometry>
        <mesh filename="package://allegro_hand_description/meshes/proximal_front.stl"/>
      </geometry>
      <material name="proximal_front_material">
        <color rgba="1 0.756863 0.054902 1.0"/>
      </material>
    </collision>
    <inertial>
      <origin rpy="0 0 0" xyz="0.00266438 0.00143857 0.0191449"/>
      <mass value="0.00549452"/>
      <inertia ixx="8.30997e-07" ixy="-1.44805e-08" ixz="8.87855e-09" iyy="1.59352e-06" iyz="2.4142e-07" izz="1.37197e-06"/>
    </inertial>
  </link>
  <link name="index_proximal_front_fpcb">
    <visual>
      <origin rpy="-3.57712e-32 1.64408e-17 1.1487e-31" xyz="-0.0568 -0.013652 0.0096"/>
      <geometry>
        <mesh filename="package://allegro_hand_description/meshes/proximal_frontfpcb.stl"/>
      </geometry>
      <material name="proximal_frontfpcb_material">
        <color rgba="0.768627 0.886275 0.952941 1.0"/>
      </material>
    </visual>
    <collision>
      <origin rpy="-3.57712e-32 1.64408e-17 1.1487e-31" xyz="-0.0568 -0.013652 0.0096"/>
      <geometry>
        <mesh filename="package://allegro_hand_description/meshes/proximal_frontfpcb.stl"/>
      </geometry>
      <material name="proximal_frontfpcb_material">
        <color rgba="0.768627 0.886275 0.952941 1.0"/>
      </material>
    </collision>
    <inertial>
      <origin rpy="0 0 0" xyz="-0.0293893 -0.00228345 0.0126321"/>
      <mass value="0.000871809"/>
      <inertia ixx="1.32851e-07" ixy="-1.29621e-09" ixz="-1.28414e-09" iyy="3.08668e-07" iyz="3.73193e-08" izz="2.63246e-07"/>
    </inertial>
  </link>
  <joint name="joint_index_proximal_front_fpcb" type="fixed">
    <origin rpy="1.69568e-14 4.09448e-18 3.98238e-32" xyz="0.0319 0.00595201 0.0044"/>
    <parent link="ipf_bracket"/>
    <child link="index_proximal_front_fpcb"/>
    <axis xyz="0 0 1"/>
    <limit effort="1" velocity="20"/>
    <joint_properties friction="0.0"/>
  </joint>
  <joint name="joint_index_proximal_front_bracket" type="fixed">
    <origin rpy="1.74055e-15 -7.22547e-16 -8.65583e-16" xyz="0.0249 0.0077 -0.0017"/>
    <parent link="link_1"/>
    <child link="ipf_bracket"/>
    <axis xyz="0 0 1"/>
    <limit effort="1" velocity="20"/>
    <joint_properties friction="0.0"/>
  </joint>
  <joint name="joint_1_0" type="revolute">
    <origin rpy="-1.5708 -1.5708 0" xyz="6.93889e-18 -0.0119 0.02545"/>
    <parent link="link_0"/>
    <child link="link_1"/>
    <axis xyz="0 0 1"/>
    <limit effort="15" lower="0" upper="1.65" velocity="20"/>
    <dynamics damping="1" friction="0.5"/>
    <gazebo>
      <implicitSpringDamper> true </implicitSpringDamper>
    </gazebo>
  </joint>
  <!-- *************************************Transmission************************************** -->
  <transmission name="trans_1_0">
    <type>transmission_interface/SimpleTransmission</type>
    <joint name="joint_1_0">
      <hardwareInterface>hardware_interface/EffortJointInterface</hardwareInterface>
    </joint>
    <actuator name="motor_1_0">
      <mechanicalReduction>1</mechanicalReduction>
    </actuator>
  </transmission>
  <!-- *************************************Transmission************************************** -->
  <joint name="joint_0_0" type="revolute">
    <origin rpy="-0.0872665 -1.66533e-16 1.5708" xyz="-0.0435377 0.034 -0.00553922"/>
    <parent link="palm_link"/>
    <child link="link_0"/>
    <axis xyz="0 0 1"/>
    <limit effort="15" lower="-0.45" upper="0.55" velocity="20"/>
    <dynamics damping="1" friction="0.5"/>
    <gazebo>
      <implicitSpringDamper> true </implicitSpringDamper>
    </gazebo>
  </joint>
  <!-- *************************************Transmission************************************** -->
  <transmission name="trans_0_0">
    <type>transmission_interface/SimpleTransmission</type>
    <joint name="joint_0_0">
      <hardwareInterface>hardware_interface/EffortJointInterface</hardwareInterface>
    </joint>
    <actuator name="motor_0_0">
      <mechanicalReduction>1</mechanicalReduction>
    </actuator>
  </transmission>
  <!-- *************************************Transmission************************************** -->
  <link name="link_4">
    <visual>
      <origin rpy="1.5708 -0 1.53951e-48" xyz="0 -2.52778e-34 -0.0152"/>
      <geometry>
        <mesh filename="package://allegro_hand_description/meshes/extended_finger_base.stl"/>
      </geometry>
      <material name="extended_finger_base_material">
        <color rgba="0.647059 0.647059 0.647059 1.0"/>
      </material>
    </visual>
    <collision>
      <origin rpy="1.5708 -0 1.53951e-48" xyz="0 -2.52778e-34 -0.0152"/>
      <geometry>
        <mesh filename="package://allegro_hand_description/meshes/extended_finger_base.stl"/>
      </geometry>
      <material name="extended_finger_base_material">
        <color rgba="0.647059 0.647059 0.647059 1.0"/>
      </material>
    </collision>
    <inertial>
      <origin rpy="0 0 0" xyz="-0.00041342 0.000666149 0.00960564"/>
      <mass value="0.0136672"/>
      <inertia ixx="2.13441e-06" ixy="5.86704e-10" ixz="-7.9563e-08" iyy="1.24411e-06" iyz="-6.13056e-08" izz="1.671e-06"/>
    </inertial>
  </link>
  <link name="link_5">
    <visual>
      <origin rpy="5.013e-31 1.48353 -2.03181e-30" xyz="0.0182688 0 -0.0317805"/>
      <geometry>
        <mesh filename="package://allegro_hand_description/meshes/p2_r6.stl"/>
      </geometry>
      <material name="p2_r6_material">
        <color rgba="0.129412 0.129412 0.129412 1.0"/>
      </material>
    </visual>
    <collision>
      <origin rpy="5.013e-31 1.48353 -2.03181e-30" xyz="0.0182688 0 -0.0317805"/>
      <geometry>
        <mesh filename="package://allegro_hand_description/meshes/p2_r6.stl"/>
      </geometry>
      <material name="p2_r6_material">
        <color rgba="0.129412 0.129412 0.129412 1.0"/>
      </material>
    </collision>
    <inertial>
      <origin rpy="0 0 0" xyz="-0.027 -9.54536e-05 0.0124409"/>
      <mass value="0.0418346"/>
      <inertia ixx="4.44908e-06" ixy="2.0693e-08" ixz="2.54038e-06" iyy="1.97927e-05" iyz="1.25552e-08" izz="1.84084e-05"/>
    </inertial>
  </link>
  <link name="link_6">
    <visual>
      <origin rpy="-4.01371e-31 1.48353 4.99346e-31" xyz="0.0722688 -3.46945e-17 -0.0317805"/>
      <geometry>
        <mesh filename="package://allegro_hand_description/meshes/extended_fingertop.stl"/>
      </geometry>
      <material name="extended_fingertop_material">
        <color rgba="0.647059 0.647059 0.647059 1.0"/>
      </material>
    </visual>
    <collision>
      <origin rpy="-4.01371e-31 1.48353 4.99346e-31" xyz="0.0722688 -3.46945e-17 -0.0317805"/>
      <geometry>
        <mesh filename="package://allegro_hand_description/meshes/extended_fingertop.stl"/>
      </geometry>
      <material name="extended_fingertop_material">
        <color rgba="0.647059 0.647059 0.647059 1.0"/>
      </material>
    </collision>
    <inertial>
      <origin rpy="0 0 0" xyz="-0.0294592 -0.000104104 0.0123435"/>
      <mass value="0.0318021"/>
      <inertia ixx="3.48619e-06" ixy="1.20808e-07" ixz="6.2918e-07" iyy="8.82437e-06" iyz="5.78644e-09" izz="7.34771e-06"/>
    </inertial>
  </link>
  <link name="link_7">
    <visual>
      <origin rpy="3.14159 1.26544e-33 -1.5708" xyz="0.1253 -6.245e-17 0.0118"/>
      <geometry>
        <mesh filename="package://allegro_hand_description/meshes/p4_r.stl"/>
      </geometry>
      <material name="p4_r_material">
        <color rgba="0.129412 0.129412 0.129412 1.0"/>
      </material>
    </visual>
    <collision>
      <origin rpy="3.14159 1.26544e-33 -1.5708" xyz="0.1253 -6.245e-17 0.0118"/>
      <geometry>
        <mesh filename="package://allegro_hand_description/meshes/p4_r.stl"/>
      </geometry>
      <material name="p4_r_material">
        <color rgba="0.129412 0.129412 0.129412 1.0"/>
      </material>
    </collision>
    <inertial>
      <origin rpy="0 0 0" xyz="-0.0100051 0.000639363 0.0123057"/>
      <mass value="0.0088374"/>
      <inertia ixx="1.08072e-06" ixy="-4.65695e-08" ixz="-3.42321e-08" iyy="1.11236e-06" iyz="-8.85024e-10" izz="5.61586e-07"/>
    </inertial>
  </link>
  <link name="mft_bracket">
    <visual>
      <origin rpy="-3.14159 -1.35585e-31 -9.86076e-32" xyz="-0.1139 -0.004 0.0135"/>
      <geometry>
        <mesh filename="package://allegro_hand_description/meshes/distal_pcbbase.stl"/>
      </geometry>
      <material name="distal_pcbbase_material">
        <color rgba="1 0.756863 0.054902 1.0"/>
      </material>
    </visual>
    <collision>
      <origin rpy="-3.14159 -1.35585e-31 -9.86076e-32" xyz="-0.1139 -0.004 0.0135"/>
      <geometry>
        <mesh filename="package://allegro_hand_description/meshes/distal_pcbbase.stl"/>
      </geometry>
      <material name="distal_pcbbase_material">
        <color rgba="1 0.756863 0.054902 1.0"/>
      </material>
    </collision>
    <inertial>
      <origin rpy="0 0 0" xyz="0.0170719 -0.00112911 0.0135244"/>
      <mass value="0.0155109"/>
      <inertia ixx="3.339e-06" ixy="-4.60426e-07" ixz="1.73449e-08" iyy="6.13257e-06" iyz="-6.39964e-10" izz="4.49513e-06"/>
    </inertial>
  </link>
  <link name="middle_fingertip_main_fpcb">
    <visual>
      <origin rpy="3.14159 -1.84889e-32 2.52682e-31" xyz="-0.12166 0.01366 8.66006e-18"/>
      <geometry>
        <mesh filename="package://allegro_hand_description/meshes/distal_fpcb_1.stl"/>
      </geometry>
      <material name="distal_fpcb_1_material">
        <color rgba="0.768627 0.886275 0.952941 1.0"/>
      </material>
    </visual>
    <collision>
      <origin rpy="3.14159 -1.84889e-32 2.52682e-31" xyz="-0.12166 0.01366 8.66006e-18"/>
      <geometry>
        <mesh filename="package://allegro_hand_description/meshes/distal_fpcb_1.stl"/>
      </geometry>
      <material name="distal_fpcb_1_material">
        <color rgba="0.768627 0.886275 0.952941 1.0"/>
      </material>
    </collision>
    <inertial>
      <origin rpy="0 0 0" xyz="0.0183062 0.0208616 2.89858e-05"/>
      <mass value="0.00142203"/>
      <inertia ixx="3.14637e-07" ixy="-2.70173e-08" ixz="2.90739e-11" iyy="3.18951e-07" iyz="-3.25215e-10" izz="4.09623e-07"/>
    </inertial>
  </link>
  <joint name="joint_middle_fingertip_main_fpcb" type="fixed">
    <origin rpy="-4.82947e-15 -7.14706e-15 2.77556e-17" xyz="0.00776046 -0.01766 0.0135"/>
    <parent link="mft_bracket"/>
    <child link="middle_fingertip_main_fpcb"/>
    <axis xyz="0 0 1"/>
    <limit effort="1" velocity="20"/>
    <joint_properties friction="0.0"/>
  </joint>
  <link name="middle_fingertip_side_fpcb">
    <visual>
      <origin rpy="3.23556e-32 -3.82105e-31 -6.22461e-31" xyz="-0.153816 0.0136001 -0.0162593"/>
      <geometry>
        <mesh filename="package://allegro_hand_description/meshes/distal_fpcb_2.stl"/>
      </geometry>
      <material name="distal_fpcb_2_material">
        <color rgba="0.972549 0.529412 0.00392157 1.0"/>
      </material>
    </visual>
    <collision>
      <origin rpy="3.23556e-32 -3.82105e-31 -6.22461e-31" xyz="-0.153816 0.0136001 -0.0162593"/>
      <geometry>
        <mesh filename="package://allegro_hand_description/meshes/distal_fpcb_2.stl"/>
      </geometry>
      <material name="distal_fpcb_2_material">
        <color rgba="0.972549 0.529412 0.00392157 1.0"/>
      </material>
    </collision>
    <inertial>
      <origin rpy="0 0 0" xyz="-0.0175916 0.00317983 -0.0164175"/>
      <mass value="0.00128609"/>
      <inertia ixx="3.5341e-07" ixy="2.54188e-08" ixz="-2.1826e-09" iyy="3.67946e-07" iyz="1.2158e-09" izz="1.99436e-07"/>
    </inertial>
  </link>
  <joint name="joint_middle_fingertip_side_fpcb" type="fixed">
    <origin rpy="3.14159 -1.38778e-17 -2.77556e-17" xyz="0.0399163 0.0096 -0.00275858"/>
    <parent link="mft_bracket"/>
    <child link="middle_fingertip_side_fpcb"/>
    <axis xyz="0 0 1"/>
    <limit effort="1" velocity="20"/>
    <joint_properties friction="0.0"/>
  </joint>
  <joint name="joint_middle_fingertip_bracket" type="fixed">
    <origin rpy="3.14159 -8.32667e-16 -3.14159" xyz="-0.0135 0.004 0.0254"/>
    <parent link="link_7"/>
    <child link="mft_bracket"/>
    <axis xyz="0 0 1"/>
    <limit effort="1" velocity="20"/>
    <joint_properties friction="0.0"/>
  </joint>
  <joint name="joint_7_0" type="revolute">
    <origin rpy="-6.02043e-15 5.70882e-15 9.18658e-14" xyz="-0.04615 2.77556e-17 0.0001"/>
    <parent link="link_6"/>
    <child link="link_7"/>
    <axis xyz="0 0 1"/>
    <limit effort="15" lower="0" upper="1.47" velocity="20"/>
    <dynamics damping="1" friction="0.5"/>
    <gazebo>
      <implicitSpringDamper> true </implicitSpringDamper>
    </gazebo>
  </joint>
  <!-- *************************************Transmission************************************** -->
  <transmission name="trans_7_0">
    <type>transmission_interface/SimpleTransmission</type>
    <joint name="joint_7_0">
      <hardwareInterface>hardware_interface/EffortJointInterface</hardwareInterface>
    </joint>
    <actuator name="motor_7_0">
      <mechanicalReduction>1</mechanicalReduction>
    </actuator>
  </transmission>
  <!-- *************************************Transmission************************************** -->
  <link name="mmf_bracket">
    <visual>
      <origin rpy="7.74847e-32 -5.579e-32 3.0743e-30" xyz="-0.0755 -0.004 0.014"/>
      <geometry>
        <mesh filename="package://allegro_hand_description/meshes/medial_front.stl"/>
      </geometry>
      <material name="medial_front_material">
        <color rgba="1 0.756863 0.054902 1.0"/>
      </material>
    </visual>
    <collision>
      <origin rpy="7.74847e-32 -5.579e-32 3.0743e-30" xyz="-0.0755 -0.004 0.014"/>
      <geometry>
        <mesh filename="package://allegro_hand_description/meshes/medial_front.stl"/>
      </geometry>
      <material name="medial_front_material">
        <color rgba="1 0.756863 0.054902 1.0"/>
      </material>
    </collision>
    <inertial>
      <origin rpy="0 0 0" xyz="0.00469281 0.00336791 0.0198072"/>
      <mass value="0.00473232"/>
      <inertia ixx="8.28869e-07" ixy="-2.96994e-07" ixz="2.53991e-07" iyy="1.55762e-06" iyz="2.23567e-07" izz="1.28629e-06"/>
    </inertial>
  </link>
  <link name="middle_medial_front_fpcb">
    <visual>
      <origin rpy="-1.5708 -1.5708 0" xyz="-0.0129 0.0096 -0.1092"/>
      <geometry>
        <mesh filename="package://allegro_hand_description/meshes/medial_front_fpcb.stl"/>
      </geometry>
      <material name="medial_front_fpcb_material">
        <color rgba="0.980392 0.713725 0.00392157 1.0"/>
      </material>
    </visual>
    <collision>
      <origin rpy="-1.5708 -1.5708 0" xyz="-0.0129 0.0096 -0.1092"/>
      <geometry>
        <mesh filename="package://allegro_hand_description/meshes/medial_front_fpcb.stl"/>
      </geometry>
      <material name="medial_front_fpcb_material">
        <color rgba="0.980392 0.713725 0.00392157 1.0"/>
      </material>
    </collision>
    <inertial>
      <origin rpy="0 0 0" xyz="-0.00409182 0.0164946 -0.0268705"/>
      <mass value="0.00086951"/>
      <inertia ixx="2.73483e-07" ixy="9.10299e-08" ixz="5.0825e-08" iyy="1.4757e-07" iyz="-6.87648e-08" izz="3.07195e-07"/>
    </inertial>
  </link>
  <joint name="joint_middle_medial_front_fpcb" type="fixed">
    <origin rpy="1.5708 1.79259e-30 1.5708" xyz="0.0337 0.0089 0.0044"/>
    <parent link="mmf_bracket"/>
    <child link="middle_medial_front_fpcb"/>
    <axis xyz="0 0 1"/>
    <limit effort="1" velocity="20"/>
    <joint_properties friction="0.0"/>
  </joint>
  <joint name="joint_middle_medial_front_bracket" type="fixed">
    <origin rpy="-2.91434e-16 2.19124e-17 3.14159" xyz="-0.0215 -0.004 -0.0021"/>
    <parent link="link_6"/>
    <child link="mmf_bracket"/>
    <axis xyz="0 0 1"/>
    <limit effort="1" velocity="20"/>
    <joint_properties friction="0.0"/>
  </joint>
  <link name="mmb_bracket">
    <visual>
      <origin rpy="3.14159 6.80319e-32 5.68486e-30" xyz="-0.0755 -0.004 0.014"/>
      <geometry>
        <mesh filename="package://allegro_hand_description/meshes/medial_back.stl"/>
      </geometry>
      <material name="medial_back_material">
        <color rgba="1 0.756863 0.054902 1.0"/>
      </material>
    </visual>
    <collision>
      <origin rpy="3.14159 6.80319e-32 5.68486e-30" xyz="-0.0755 -0.004 0.014"/>
      <geometry>
        <mesh filename="package://allegro_hand_description/meshes/medial_back.stl"/>
      </geometry>
      <material name="medial_back_material">
        <color rgba="1 0.756863 0.054902 1.0"/>
      </material>
    </collision>
    <inertial>
      <origin rpy="0 0 0" xyz="0.0050369 0.00536951 0.0198823"/>
      <mass value="0.00531302"/>
      <inertia ixx="1.01036e-06" ixy="-2.70353e-07" ixz="2.64599e-07" iyy="1.7622e-06" iyz="2.24575e-07" izz="1.4134e-06"/>
    </inertial>
  </link>
  <link name="middle_medial_back_fpcb">
    <visual>
      <origin rpy="-1.5708 -1.5708 0" xyz="0.0145 -0.014 -0.1092"/>
      <geometry>
        <mesh filename="package://allegro_hand_description/meshes/medial_back_fpcb.stl"/>
      </geometry>
      <material name="medial_back_fpcb_material">
        <color rgba="0.498039 0.498039 0.498039 1.0"/>
      </material>
    </visual>
    <collision>
      <origin rpy="-1.5708 -1.5708 0" xyz="0.0145 -0.014 -0.1092"/>
      <geometry>
        <mesh filename="package://allegro_hand_description/meshes/medial_back_fpcb.stl"/>
      </geometry>
      <material name="medial_back_fpcb_material">
        <color rgba="0.498039 0.498039 0.498039 1.0"/>
      </material>
    </collision>
    <inertial>
      <origin rpy="0 0 0" xyz="0.0031423 -0.0198367 -0.0257098"/>
      <mass value="0.000991462"/>
      <inertia ixx="2.93113e-07" ixy="-9.38799e-08" ixz="5.77704e-08" iyy="1.96504e-07" iyz="6.0309e-08" izz="3.52075e-07"/>
    </inertial>
  </link>
  <joint name="joint_middle_medial_back_fpcb" type="fixed">
    <origin rpy="-1.5708 2.57582e-26 -1.5708" xyz="0.0337 0.0105 1.38778e-17"/>
    <parent link="mmb_bracket"/>
    <child link="middle_medial_back_fpcb"/>
    <axis xyz="0 0 1"/>
    <limit effort="1" velocity="20"/>
    <joint_properties friction="0.0"/>
  </joint>
  <joint name="joint_middle_medial_back_bracket" type="fixed">
    <origin rpy="-3.14159 -1.5933e-17 3.14159" xyz="-0.0215 0.004 0.0259"/>
    <parent link="link_6"/>
    <child link="mmb_bracket"/>
    <axis xyz="0 0 1"/>
    <limit effort="1" velocity="20"/>
    <joint_properties friction="0.0"/>
  </joint>
  <joint name="joint_6_0" type="revolute">
    <origin rpy="2.4529e-15 -5.42863e-15 3.19463e-15" xyz="-0.054 -1.66533e-16 -7.30319e-16"/>
    <parent link="link_5"/>
    <child link="link_6"/>
    <axis xyz="0 0 1"/>
    <limit effort="15" lower="0" upper="1.5" velocity="20"/>
    <dynamics damping="1" friction="0.5"/>
    <gazebo>
      <implicitSpringDamper> true </implicitSpringDamper>
    </gazebo>
  </joint>
  <!-- *************************************Transmission************************************** -->
  <transmission name="trans_6_0">
    <type>transmission_interface/SimpleTransmission</type>
    <joint name="joint_6_0">
      <hardwareInterface>hardware_interface/EffortJointInterface</hardwareInterface>
    </joint>
    <actuator name="motor_6_0">
      <mechanicalReduction>1</mechanicalReduction>
    </actuator>
  </transmission>
  <!-- *************************************Transmission************************************** -->
  <link name="mpb_bracket">
    <visual>
      <origin rpy="3.14159 -4.6691e-34 5.87245e-30" xyz="-0.0249 -0.0037 0.014"/>
      <geometry>
        <mesh filename="package://allegro_hand_description/meshes/proximal_back.stl"/>
      </geometry>
      <material name="proximal_back_material">
        <color rgba="1 0.756863 0.054902 1.0"/>
      </material>
    </visual>
    <collision>
      <origin rpy="3.14159 -4.6691e-34 5.87245e-30" xyz="-0.0249 -0.0037 0.014"/>
      <geometry>
        <mesh filename="package://allegro_hand_description/meshes/proximal_back.stl"/>
      </geometry>
      <material name="proximal_back_material">
        <color rgba="1 0.756863 0.054902 1.0"/>
      </material>
    </collision>
    <inertial>
      <origin rpy="0 0 0" xyz="0.00190421 0.00603324 0.0192417"/>
      <mass value="0.00681742"/>
      <inertia ixx="1.33469e-06" ixy="-1.25087e-08" ixz="-1.65721e-09" iyy="2.12223e-06" iyz="3.02232e-07" izz="1.86525e-06"/>
    </inertial>
  </link>
  <link name="middle_proximal_back_fpcb">
    <visual>
      <origin rpy="-1.5708 2.34367e-30 2.18567e-32" xyz="0.0028 -0.0131 -0.0136"/>
      <geometry>
        <mesh filename="package://allegro_hand_description/meshes/proximal_back_fpcb.stl"/>
      </geometry>
      <material name="proximal_back_fpcb_material">
        <color rgba="0.917647 0.917647 0.917647 1.0"/>
      </material>
    </visual>
    <collision>
      <origin rpy="-1.5708 2.34367e-30 2.18567e-32" xyz="0.0028 -0.0131 -0.0136"/>
      <geometry>
        <mesh filename="package://allegro_hand_description/meshes/proximal_back_fpcb.stl"/>
      </geometry>
      <material name="proximal_back_fpcb_material">
        <color rgba="0.917647 0.917647 0.917647 1.0"/>
      </material>
    </collision>
    <inertial>
      <origin rpy="0 0 0" xyz="0.0298338 -0.0157289 -0.000514151"/>
      <mass value="0.00110296"/>
      <inertia ixx="2.17583e-07" ixy="-7.11341e-10" ixz="-5.50926e-10" iyy="3.62763e-07" iyz="-5.1761e-08" izz="4.40838e-07"/>
    </inertial>
  </link>
  <joint name="joint_middle_proximal_back_fpcb" type="fixed">
    <origin rpy="-1.5708 1.69768e-31 -2.34367e-30" xyz="-0.0277 0.0099 0.0009"/>
    <parent link="mpb_bracket"/>
    <child link="middle_proximal_back_fpcb"/>
    <axis xyz="0 0 1"/>
    <limit effort="1" velocity="20"/>
    <joint_properties friction="0.0"/>
  </joint>
  <joint name="joint_middle_proximal_back_bracket" type="fixed">
    <origin rpy="-3.14159 4.05868e-15 3.14159" xyz="-0.0249 0.0037 0.0253"/>
    <parent link="link_5"/>
    <child link="mpb_bracket"/>
    <axis xyz="0 0 1"/>
    <limit effort="1" velocity="20"/>
    <joint_properties friction="0.0"/>
  </joint>
  <link name="mpf_bracket">
    <visual>
      <origin rpy="1.4926e-32 -3.38771e-31 -2.46519e-30" xyz="-0.0249 -0.0077 0.014"/>
      <geometry>
        <mesh filename="package://allegro_hand_description/meshes/proximal_front.stl"/>
      </geometry>
      <material name="proximal_front_material">
        <color rgba="1 0.756863 0.054902 1.0"/>
      </material>
    </visual>
    <collision>
      <origin rpy="1.4926e-32 -3.38771e-31 -2.46519e-30" xyz="-0.0249 -0.0077 0.014"/>
      <geometry>
        <mesh filename="package://allegro_hand_description/meshes/proximal_front.stl"/>
      </geometry>
      <material name="proximal_front_material">
        <color rgba="1 0.756863 0.054902 1.0"/>
      </material>
    </collision>
    <inertial>
      <origin rpy="0 0 0" xyz="0.00266438 0.00143857 0.0191449"/>
      <mass value="0.00549452"/>
      <inertia ixx="8.30997e-07" ixy="-1.44805e-08" ixz="8.87855e-09" iyy="1.59352e-06" iyz="2.4142e-07" izz="1.37197e-06"/>
    </inertial>
  </link>
  <link name="middle_proximal_front_fpcb">
    <visual>
      <origin rpy="-7.42927e-32 -1.59852e-31 1.64921e-29" xyz="-0.0568 -0.013652 0.0096"/>
      <geometry>
        <mesh filename="package://allegro_hand_description/meshes/proximal_frontfpcb.stl"/>
      </geometry>
      <material name="proximal_frontfpcb_material">
        <color rgba="0.768627 0.886275 0.952941 1.0"/>
      </material>
    </visual>
    <collision>
      <origin rpy="-7.42927e-32 -1.59852e-31 1.64921e-29" xyz="-0.0568 -0.013652 0.0096"/>
      <geometry>
        <mesh filename="package://allegro_hand_description/meshes/proximal_frontfpcb.stl"/>
      </geometry>
      <material name="proximal_frontfpcb_material">
        <color rgba="0.768627 0.886275 0.952941 1.0"/>
      </material>
    </collision>
    <inertial>
      <origin rpy="0 0 0" xyz="-0.0293893 -0.00228345 0.0126321"/>
      <mass value="0.000871809"/>
      <inertia ixx="1.32851e-07" ixy="-1.29621e-09" ixz="-1.28414e-09" iyy="3.08668e-07" iyz="3.73193e-08" izz="2.63246e-07"/>
    </inertial>
  </link>
  <joint name="joint_middle_proximal_front_fpcb" type="fixed">
    <origin rpy="-6.26539e-15 -5.20417e-18 5.55112e-17" xyz="0.0319 0.00595201 0.0044"/>
    <parent link="mpf_bracket"/>
    <child link="middle_proximal_front_fpcb"/>
    <axis xyz="0 0 1"/>
    <limit effort="1" velocity="20"/>
    <joint_properties friction="0.0"/>
  </joint>
  <joint name="joint_middle_proximal_front_bracket" type="fixed">
    <origin rpy="-1.96804e-15 3.74674e-16 3.14159" xyz="-0.0249 -0.0077 -0.0017"/>
    <parent link="link_5"/>
    <child link="mpf_bracket"/>
    <axis xyz="0 0 1"/>
    <limit effort="1" velocity="20"/>
    <joint_properties friction="0.0"/>
  </joint>
  <joint name="joint_5_0" type="revolute">
    <origin rpy="-1.5708 1.5708 0" xyz="-4.16334e-17 -0.0119 0.02545"/>
    <parent link="link_4"/>
    <child link="link_5"/>
    <axis xyz="0 0 1"/>
    <limit effort="15" lower="0" upper="1.65" velocity="20"/>
    <dynamics damping="1" friction="0.5"/>
    <gazebo>
      <implicitSpringDamper> true </implicitSpringDamper>
    </gazebo>
  </joint>
  <!-- *************************************Transmission************************************** -->
  <transmission name="trans_5_0">
    <type>transmission_interface/SimpleTransmission</type>
    <joint name="joint_5_0">
      <hardwareInterface>hardware_interface/EffortJointInterface</hardwareInterface>
    </joint>
    <actuator name="motor_5_0">
      <mechanicalReduction>1</mechanicalReduction>
    </actuator>
  </transmission>
  <!-- *************************************Transmission************************************** -->
  <joint name="joint_4_0" type="revolute">
    <origin rpy="0 -0 1.5708" xyz="-2.68398e-34 0.034 -0.0033"/>
    <parent link="palm_link"/>
    <child link="link_4"/>
    <axis xyz="0 0 1"/>
    <limit effort="15" lower="-0.55" upper="0.45" velocity="20"/>
    <dynamics damping="1" friction="0.5"/>
    <gazebo>
      <implicitSpringDamper> true </implicitSpringDamper>
    </gazebo>
  </joint>
  <!-- *************************************Transmission************************************** -->
  <transmission name="trans_4_0">
    <type>transmission_interface/SimpleTransmission</type>
    <joint name="joint_4_0">
      <hardwareInterface>hardware_interface/EffortJointInterface</hardwareInterface>
    </joint>
    <actuator name="motor_4_0">
      <mechanicalReduction>1</mechanicalReduction>
    </actuator>
  </transmission>
  <!-- *************************************Transmission************************************** -->
  <link name="link_8">
    <visual>
      <origin rpy="1.5708 -1.84889e-32 4.46816e-32" xyz="6.93889e-18 -6.93889e-18 -0.0152"/>
      <geometry>
        <mesh filename="package://allegro_hand_description/meshes/extended_finger_base.stl"/>
      </geometry>
      <material name="extended_finger_base_material">
        <color rgba="0.647059 0.647059 0.647059 1.0"/>
      </material>
    </visual>
    <collision>
      <origin rpy="1.5708 -1.84889e-32 4.46816e-32" xyz="6.93889e-18 -6.93889e-18 -0.0152"/>
      <geometry>
        <mesh filename="package://allegro_hand_description/meshes/extended_finger_base.stl"/>
      </geometry>
      <material name="extended_finger_base_material">
        <color rgba="0.647059 0.647059 0.647059 1.0"/>
      </material>
    </collision>
    <inertial>
      <origin rpy="0 0 0" xyz="-0.00041342 0.000666149 0.00960564"/>
      <mass value="0.0136672"/>
      <inertia ixx="2.13441e-06" ixy="5.86704e-10" ixz="-7.9563e-08" iyy="1.24411e-06" iyz="-6.13056e-08" izz="1.671e-06"/>
    </inertial>
  </link>
  <link name="link_9">
    <visual>
      <origin rpy="1.70593e-30 1.48353 -1.17581e-30" xyz="0.0182688 6.93889e-18 -0.0317805"/>
      <geometry>
        <mesh filename="package://allegro_hand_description/meshes/p2_r6.stl"/>
      </geometry>
      <material name="p2_r6_material">
        <color rgba="0.129412 0.129412 0.129412 1.0"/>
      </material>
    </visual>
    <collision>
      <origin rpy="1.70593e-30 1.48353 -1.17581e-30" xyz="0.0182688 6.93889e-18 -0.0317805"/>
      <geometry>
        <mesh filename="package://allegro_hand_description/meshes/p2_r6.stl"/>
      </geometry>
      <material name="p2_r6_material">
        <color rgba="0.129412 0.129412 0.129412 1.0"/>
      </material>
    </collision>
    <inertial>
      <origin rpy="0 0 0" xyz="-0.027 -9.54536e-05 0.0124409"/>
      <mass value="0.0418346"/>
      <inertia ixx="4.44908e-06" ixy="2.0693e-08" ixz="2.54038e-06" iyy="1.97927e-05" iyz="1.25552e-08" izz="1.84084e-05"/>
    </inertial>
  </link>
  <link name="link_10">
    <visual>
      <origin rpy="-6.3738e-31 1.48353 2.91843e-30" xyz="0.0722688 -4.16334e-17 -0.0317805"/>
      <geometry>
        <mesh filename="package://allegro_hand_description/meshes/extended_fingertop.stl"/>
      </geometry>
      <material name="extended_fingertop_material">
        <color rgba="0.647059 0.647059 0.647059 1.0"/>
      </material>
    </visual>
    <collision>
      <origin rpy="-6.3738e-31 1.48353 2.91843e-30" xyz="0.0722688 -4.16334e-17 -0.0317805"/>
      <geometry>
        <mesh filename="package://allegro_hand_description/meshes/extended_fingertop.stl"/>
      </geometry>
      <material name="extended_fingertop_material">
        <color rgba="0.647059 0.647059 0.647059 1.0"/>
      </material>
    </collision>
    <inertial>
      <origin rpy="0 0 0" xyz="-0.0294592 -0.000104104 0.0123435"/>
      <mass value="0.0318021"/>
      <inertia ixx="3.48619e-06" ixy="1.20808e-07" ixz="6.2918e-07" iyy="8.82437e-06" iyz="5.78644e-09" izz="7.34771e-06"/>
    </inertial>
  </link>
  <link name="link_11">
    <visual>
      <origin rpy="3.14159 -1.68249e-30 -1.5708" xyz="0.1253 -6.245e-17 0.0118"/>
      <geometry>
        <mesh filename="package://allegro_hand_description/meshes/p4_r.stl"/>
      </geometry>
      <material name="p4_r_material">
        <color rgba="0.129412 0.129412 0.129412 1.0"/>
      </material>
    </visual>
    <collision>
      <origin rpy="3.14159 -1.68249e-30 -1.5708" xyz="0.1253 -6.245e-17 0.0118"/>
      <geometry>
        <mesh filename="package://allegro_hand_description/meshes/p4_r.stl"/>
      </geometry>
      <material name="p4_r_material">
        <color rgba="0.129412 0.129412 0.129412 1.0"/>
      </material>
    </collision>
    <inertial>
      <origin rpy="0 0 0" xyz="-0.0100051 0.000639363 0.0123057"/>
      <mass value="0.0088374"/>
      <inertia ixx="1.08072e-06" ixy="-4.65695e-08" ixz="-3.42321e-08" iyy="1.11236e-06" iyz="-8.85024e-10" izz="5.61586e-07"/>
    </inertial>
  </link>
  <link name="pft_bracket">
    <visual>
      <origin rpy="-3.14159 1.28916e-17 -5.47827e-30" xyz="-0.1139 -0.004 0.0135"/>
      <geometry>
        <mesh filename="package://allegro_hand_description/meshes/distal_pcbbase.stl"/>
      </geometry>
      <material name="distal_pcbbase_material">
        <color rgba="1 0.756863 0.054902 1.0"/>
      </material>
    </visual>
    <collision>
      <origin rpy="-3.14159 1.28916e-17 -5.47827e-30" xyz="-0.1139 -0.004 0.0135"/>
      <geometry>
        <mesh filename="package://allegro_hand_description/meshes/distal_pcbbase.stl"/>
      </geometry>
      <material name="distal_pcbbase_material">
        <color rgba="1 0.756863 0.054902 1.0"/>
      </material>
    </collision>
    <inertial>
      <origin rpy="0 0 0" xyz="0.0170719 -0.00112911 0.0135244"/>
      <mass value="0.0155109"/>
      <inertia ixx="3.339e-06" ixy="-4.60426e-07" ixz="1.73449e-08" iyy="6.13257e-06" iyz="-6.39964e-10" izz="4.49513e-06"/>
    </inertial>
  </link>
  <link name="pinky_fingertip_main_fpcb">
    <visual>
      <origin rpy="-3.14159 1.9938e-17 -2.07776e-29" xyz="-0.12166 0.01366 1.38778e-17"/>
      <geometry>
        <mesh filename="package://allegro_hand_description/meshes/distal_fpcb_1.stl"/>
      </geometry>
      <material name="distal_fpcb_1_material">
        <color rgba="0.768627 0.886275 0.952941 1.0"/>
      </material>
    </visual>
    <collision>
      <origin rpy="-3.14159 1.9938e-17 -2.07776e-29" xyz="-0.12166 0.01366 1.38778e-17"/>
      <geometry>
        <mesh filename="package://allegro_hand_description/meshes/distal_fpcb_1.stl"/>
      </geometry>
      <material name="distal_fpcb_1_material">
        <color rgba="0.768627 0.886275 0.952941 1.0"/>
      </material>
    </collision>
    <inertial>
      <origin rpy="0 0 0" xyz="0.0183062 0.0208616 2.89858e-05"/>
      <mass value="0.00142203"/>
      <inertia ixx="3.14637e-07" ixy="-2.70173e-08" ixz="2.90739e-11" iyy="3.18951e-07" iyz="-3.25215e-10" izz="4.09623e-07"/>
    </inertial>
  </link>
  <joint name="joint_pinky_fingertip_main_fpcb" type="fixed">
    <origin rpy="-4.08652e-17 5.17584e-16 1.66533e-16" xyz="0.00776046 -0.01766 0.0135"/>
    <parent link="pft_bracket"/>
    <child link="pinky_fingertip_main_fpcb"/>
    <axis xyz="0 0 1"/>
    <limit effort="1" velocity="20"/>
    <joint_properties friction="0.0"/>
  </joint>
  <link name="pinky_fingertip_side_fpcb">
    <visual>
      <origin rpy="-3.60571e-31 -1.028e-17 -3.19673e-30" xyz="-0.153816 0.0136001 -0.0162593"/>
      <geometry>
        <mesh filename="package://allegro_hand_description/meshes/distal_fpcb_2.stl"/>
      </geometry>
      <material name="distal_fpcb_2_material">
        <color rgba="0.972549 0.529412 0.00392157 1.0"/>
      </material>
    </visual>
    <collision>
      <origin rpy="-3.60571e-31 -1.028e-17 -3.19673e-30" xyz="-0.153816 0.0136001 -0.0162593"/>
      <geometry>
        <mesh filename="package://allegro_hand_description/meshes/distal_fpcb_2.stl"/>
      </geometry>
      <material name="distal_fpcb_2_material">
        <color rgba="0.972549 0.529412 0.00392157 1.0"/>
      </material>
    </collision>
    <inertial>
      <origin rpy="0 0 0" xyz="-0.0175916 0.00317983 -0.0164175"/>
      <mass value="0.00128609"/>
      <inertia ixx="3.5341e-07" ixy="2.54188e-08" ixz="-2.1826e-09" iyy="3.67946e-07" iyz="1.2158e-09" izz="1.99436e-07"/>
    </inertial>
  </link>
  <joint name="joint_pinky_fingertip_side_fpcb" type="fixed">
    <origin rpy="-3.14159 5.15965e-17 5.55112e-17" xyz="0.0399163 0.0096 -0.00275858"/>
    <parent link="pft_bracket"/>
    <child link="pinky_fingertip_side_fpcb"/>
    <axis xyz="0 0 1"/>
    <limit effort="1" velocity="20"/>
    <joint_properties friction="0.0"/>
  </joint>
  <joint name="joint_pinky_fingertip_bracket" type="fixed">
    <origin rpy="3.14159 4.4328e-16 3.14159" xyz="-0.0135 0.004 0.0254"/>
    <parent link="link_11"/>
    <child link="pft_bracket"/>
    <axis xyz="0 0 1"/>
    <limit effort="1" velocity="20"/>
    <joint_properties friction="0.0"/>
  </joint>
  <joint name="joint_11_0" type="revolute">
    <origin rpy="-2.08897e-16 7.34965e-16 -9.23803e-14" xyz="-0.04615 2.08167e-17 0.0001"/>
    <parent link="link_10"/>
    <child link="link_11"/>
    <axis xyz="0 0 1"/>
    <limit effort="15" lower="0" upper="1.47" velocity="20"/>
    <dynamics damping="1" friction="0.5"/>
    <gazebo>
      <implicitSpringDamper> true </implicitSpringDamper>
    </gazebo>
  </joint>
  <!-- *************************************Transmission************************************** -->
  <transmission name="trans_11_0">
    <type>transmission_interface/SimpleTransmission</type>
    <joint name="joint_11_0">
      <hardwareInterface>hardware_interface/EffortJointInterface</hardwareInterface>
    </joint>
    <actuator name="motor_11_0">
      <mechanicalReduction>1</mechanicalReduction>
    </actuator>
  </transmission>
  <!-- *************************************Transmission************************************** -->
  <link name="pmf_bracket">
    <visual>
      <origin rpy="5.55513e-32 -1.31932e-17 -4.97361e-33" xyz="-0.0755 -0.004 0.014"/>
      <geometry>
        <mesh filename="package://allegro_hand_description/meshes/medial_front.stl"/>
      </geometry>
      <material name="medial_front_material">
        <color rgba="1 0.756863 0.054902 1.0"/>
      </material>
    </visual>
    <collision>
      <origin rpy="5.55513e-32 -1.31932e-17 -4.97361e-33" xyz="-0.0755 -0.004 0.014"/>
      <geometry>
        <mesh filename="package://allegro_hand_description/meshes/medial_front.stl"/>
      </geometry>
      <material name="medial_front_material">
        <color rgba="1 0.756863 0.054902 1.0"/>
      </material>
    </collision>
    <inertial>
      <origin rpy="0 0 0" xyz="0.00469281 0.00336791 0.0198072"/>
      <mass value="0.00473232"/>
      <inertia ixx="8.28869e-07" ixy="-2.96994e-07" ixz="2.53991e-07" iyy="1.55762e-06" iyz="2.23567e-07" izz="1.28629e-06"/>
    </inertial>
  </link>
  <link name="pinky_medial_front_fpcb">
    <visual>
      <origin rpy="-1.5708 -1.5708 0" xyz="-0.0129 0.0096 -0.1092"/>
      <geometry>
        <mesh filename="package://allegro_hand_description/meshes/medial_front_fpcb.stl"/>
      </geometry>
      <material name="medial_front_fpcb_material">
        <color rgba="0.980392 0.713725 0.00392157 1.0"/>
      </material>
    </visual>
    <collision>
      <origin rpy="-1.5708 -1.5708 0" xyz="-0.0129 0.0096 -0.1092"/>
      <geometry>
        <mesh filename="package://allegro_hand_description/meshes/medial_front_fpcb.stl"/>
      </geometry>
      <material name="medial_front_fpcb_material">
        <color rgba="0.980392 0.713725 0.00392157 1.0"/>
      </material>
    </collision>
    <inertial>
      <origin rpy="0 0 0" xyz="-0.00409182 0.0164946 -0.0268705"/>
      <mass value="0.00086951"/>
      <inertia ixx="2.73483e-07" ixy="9.10299e-08" ixz="5.0825e-08" iyy="1.4757e-07" iyz="-6.87648e-08" izz="3.07195e-07"/>
    </inertial>
  </link>
  <joint name="joint_pinky_medial_front_fpcb" type="fixed">
    <origin rpy="1.5708 -4.44891e-19 1.5708" xyz="0.0337 0.0089 0.0044"/>
    <parent link="pmf_bracket"/>
    <child link="pinky_medial_front_fpcb"/>
    <axis xyz="0 0 1"/>
    <limit effort="1" velocity="20"/>
    <joint_properties friction="0.0"/>
  </joint>
  <joint name="joint_pinky_medial_front_bracket" type="fixed">
    <origin rpy="5.55513e-32 -1.31932e-17 3.14159" xyz="-0.0215 -0.004 -0.0021"/>
    <parent link="link_10"/>
    <child link="pmf_bracket"/>
    <axis xyz="0 0 1"/>
    <limit effort="1" velocity="20"/>
    <joint_properties friction="0.0"/>
  </joint>
  <link name="pmb_bracket">
    <visual>
      <origin rpy="-3.14159 1.31932e-17 4.97361e-33" xyz="-0.0755 -0.004 0.014"/>
      <geometry>
        <mesh filename="package://allegro_hand_description/meshes/medial_back.stl"/>
      </geometry>
      <material name="medial_back_material">
        <color rgba="1 0.756863 0.054902 1.0"/>
      </material>
    </visual>
    <collision>
      <origin rpy="-3.14159 1.31932e-17 4.97361e-33" xyz="-0.0755 -0.004 0.014"/>
      <geometry>
        <mesh filename="package://allegro_hand_description/meshes/medial_back.stl"/>
      </geometry>
      <material name="medial_back_material">
        <color rgba="1 0.756863 0.054902 1.0"/>
      </material>
    </collision>
    <inertial>
      <origin rpy="0 0 0" xyz="0.0050369 0.00536951 0.0198823"/>
      <mass value="0.00531302"/>
      <inertia ixx="1.01036e-06" ixy="-2.70353e-07" ixz="2.64599e-07" iyy="1.7622e-06" iyz="2.24575e-07" izz="1.4134e-06"/>
    </inertial>
  </link>
  <link name="pinky_medial_back_fpcb">
    <visual>
      <origin rpy="-1.5708 -1.5708 0" xyz="0.0145 -0.014 -0.1092"/>
      <geometry>
        <mesh filename="package://allegro_hand_description/meshes/medial_back_fpcb.stl"/>
      </geometry>
      <material name="medial_back_fpcb_material">
        <color rgba="0.498039 0.498039 0.498039 1.0"/>
      </material>
    </visual>
    <collision>
      <origin rpy="-1.5708 -1.5708 0" xyz="0.0145 -0.014 -0.1092"/>
      <geometry>
        <mesh filename="package://allegro_hand_description/meshes/medial_back_fpcb.stl"/>
      </geometry>
      <material name="medial_back_fpcb_material">
        <color rgba="0.498039 0.498039 0.498039 1.0"/>
      </material>
    </collision>
    <inertial>
      <origin rpy="0 0 0" xyz="0.0031423 -0.0198367 -0.0257098"/>
      <mass value="0.000991462"/>
      <inertia ixx="2.93113e-07" ixy="-9.38799e-08" ixz="5.77704e-08" iyy="1.96504e-07" iyz="6.0309e-08" izz="3.52075e-07"/>
    </inertial>
  </link>
  <joint name="joint_pinky_medial_back_fpcb" type="fixed">
    <origin rpy="-1.5708 4.44891e-19 -1.5708" xyz="0.0337 0.0105 -4.51028e-17"/>
    <parent link="pmb_bracket"/>
    <child link="pinky_medial_back_fpcb"/>
    <axis xyz="0 0 1"/>
    <limit effort="1" velocity="20"/>
    <joint_properties friction="0.0"/>
  </joint>
  <joint name="joint_pinky_medial_back_bracket" type="fixed">
    <origin rpy="-3.14159 -1.31932e-17 3.14159" xyz="-0.0215 0.004 0.0259"/>
    <parent link="link_10"/>
    <child link="pmb_bracket"/>
    <axis xyz="0 0 1"/>
    <limit effort="1" velocity="20"/>
    <joint_properties friction="0.0"/>
  </joint>
  <joint name="joint_10_0" type="revolute">
    <origin rpy="7.38677e-17 -5.80172e-16 -7.55426e-16" xyz="-0.054 1.38778e-17 -1.249e-16"/>
    <parent link="link_9"/>
    <child link="link_10"/>
    <axis xyz="0 0 1"/>
    <limit effort="15" lower="0" upper="1.5" velocity="20"/>
    <dynamics damping="1" friction="0.5"/>
    <gazebo>
      <implicitSpringDamper> true </implicitSpringDamper>
    </gazebo>
  </joint>
  <!-- *************************************Transmission************************************** -->
  <transmission name="trans_10_0">
    <type>transmission_interface/SimpleTransmission</type>
    <joint name="joint_10_0">
      <hardwareInterface>hardware_interface/EffortJointInterface</hardwareInterface>
    </joint>
    <actuator name="motor_10_0">
      <mechanicalReduction>1</mechanicalReduction>
    </actuator>
  </transmission>
  <!-- *************************************Transmission************************************** -->
  <link name="ppb_bracket">
    <visual>
      <origin rpy="-3.14159 -1.11271e-19 2.71125e-32" xyz="-0.0249 -0.0037 0.014"/>
      <geometry>
        <mesh filename="package://allegro_hand_description/meshes/proximal_back.stl"/>
      </geometry>
      <material name="proximal_back_material">
        <color rgba="1 0.756863 0.054902 1.0"/>
      </material>
    </visual>
    <collision>
      <origin rpy="-3.14159 -1.11271e-19 2.71125e-32" xyz="-0.0249 -0.0037 0.014"/>
      <geometry>
        <mesh filename="package://allegro_hand_description/meshes/proximal_back.stl"/>
      </geometry>
      <material name="proximal_back_material">
        <color rgba="1 0.756863 0.054902 1.0"/>
      </material>
    </collision>
    <inertial>
      <origin rpy="0 0 0" xyz="0.00190421 0.00603324 0.0192417"/>
      <mass value="0.00681742"/>
      <inertia ixx="1.33469e-06" ixy="-1.25087e-08" ixz="-1.65721e-09" iyy="2.12223e-06" iyz="3.02232e-07" izz="1.86525e-06"/>
    </inertial>
  </link>
  <link name="pinky_proximal_back_fpcb">
    <visual>
      <origin rpy="-1.5708 2.2395e-32 5.32313e-18" xyz="0.0028 -0.0131 -0.0136"/>
      <geometry>
        <mesh filename="package://allegro_hand_description/meshes/proximal_back_fpcb.stl"/>
      </geometry>
      <material name="proximal_back_fpcb_material">
        <color rgba="0.917647 0.917647 0.917647 1.0"/>
      </material>
    </visual>
    <collision>
      <origin rpy="-1.5708 2.2395e-32 5.32313e-18" xyz="0.0028 -0.0131 -0.0136"/>
      <geometry>
        <mesh filename="package://allegro_hand_description/meshes/proximal_back_fpcb.stl"/>
      </geometry>
      <material name="proximal_back_fpcb_material">
        <color rgba="0.917647 0.917647 0.917647 1.0"/>
      </material>
    </collision>
    <inertial>
      <origin rpy="0 0 0" xyz="0.0298338 -0.0157289 -0.000514151"/>
      <mass value="0.00110296"/>
      <inertia ixx="2.17583e-07" ixy="-7.11341e-10" ixz="-5.50926e-10" iyy="3.62763e-07" iyz="-5.1761e-08" izz="4.40838e-07"/>
    </inertial>
  </link>
  <joint name="joint_pinky_proximal_back_fpcb" type="fixed">
    <origin rpy="-1.5708 -8.3852e-18 -7.27119e-30" xyz="-0.0277 0.0099 0.0009"/>
    <parent link="ppb_bracket"/>
    <child link="pinky_proximal_back_fpcb"/>
    <axis xyz="0 0 1"/>
    <limit effort="1" velocity="20"/>
    <joint_properties friction="0.0"/>
  </joint>
  <joint name="joint_pinky_proximal_back_bracket" type="fixed">
    <origin rpy="-3.14159 5.61195e-15 3.14159" xyz="-0.0249 0.0037 0.0253"/>
    <parent link="link_9"/>
    <child link="ppb_bracket"/>
    <axis xyz="0 0 1"/>
    <limit effort="1" velocity="20"/>
    <joint_properties friction="0.0"/>
  </joint>
  <link name="ppf_bracket">
    <visual>
      <origin rpy="-4.46045e-31 1.1948e-18 7.49935e-32" xyz="-0.0249 -0.0077 0.014"/>
      <geometry>
        <mesh filename="package://allegro_hand_description/meshes/proximal_front.stl"/>
      </geometry>
      <material name="proximal_front_material">
        <color rgba="1 0.756863 0.054902 1.0"/>
      </material>
    </visual>
    <collision>
      <origin rpy="-4.46045e-31 1.1948e-18 7.49935e-32" xyz="-0.0249 -0.0077 0.014"/>
      <geometry>
        <mesh filename="package://allegro_hand_description/meshes/proximal_front.stl"/>
      </geometry>
      <material name="proximal_front_material">
        <color rgba="1 0.756863 0.054902 1.0"/>
      </material>
    </collision>
    <inertial>
      <origin rpy="0 0 0" xyz="0.00266438 0.00143857 0.0191449"/>
      <mass value="0.00549452"/>
      <inertia ixx="8.30997e-07" ixy="-1.44805e-08" ixz="8.87855e-09" iyy="1.59352e-06" iyz="2.4142e-07" izz="1.37197e-06"/>
    </inertial>
  </link>
  <link name="pinky_proximal_front_fpcb">
    <visual>
      <origin rpy="1.31965e-30 -3.67426e-19 -1.38914e-31" xyz="-0.0568 -0.013652 0.0096"/>
      <geometry>
        <mesh filename="package://allegro_hand_description/meshes/proximal_frontfpcb.stl"/>
      </geometry>
      <material name="proximal_frontfpcb_material">
        <color rgba="0.768627 0.886275 0.952941 1.0"/>
      </material>
    </visual>
    <collision>
      <origin rpy="1.31965e-30 -3.67426e-19 -1.38914e-31" xyz="-0.0568 -0.013652 0.0096"/>
      <geometry>
        <mesh filename="package://allegro_hand_description/meshes/proximal_frontfpcb.stl"/>
      </geometry>
      <material name="proximal_frontfpcb_material">
        <color rgba="0.768627 0.886275 0.952941 1.0"/>
      </material>
    </collision>
    <inertial>
      <origin rpy="0 0 0" xyz="-0.0293893 -0.00228345 0.0126321"/>
      <mass value="0.000871809"/>
      <inertia ixx="1.32851e-07" ixy="-1.29621e-09" ixz="-1.28414e-09" iyy="3.08668e-07" iyz="3.73193e-08" izz="2.63246e-07"/>
    </inertial>
  </link>
  <joint name="joint_pinky_proximal_front_fpcb" type="fixed">
    <origin rpy="-5.00673e-15 6.88757e-19 -5.55112e-17" xyz="0.0319 0.00595201 0.0044"/>
    <parent link="ppf_bracket"/>
    <child link="pinky_proximal_front_fpcb"/>
    <axis xyz="0 0 1"/>
    <limit effort="1" velocity="20"/>
    <joint_properties friction="0.0"/>
  </joint>
  <joint name="joint_pinky_proximal_front_bracket" type="fixed">
    <origin rpy="-1.96935e-15 3.88558e-16 3.14159" xyz="-0.0249 -0.0077 -0.0017"/>
    <parent link="link_9"/>
    <child link="ppf_bracket"/>
    <axis xyz="0 0 1"/>
    <limit effort="1" velocity="20"/>
    <joint_properties friction="0.0"/>
  </joint>
  <joint name="joint_9_0" type="revolute">
    <origin rpy="-1.5708 1.5708 0" xyz="-1.38778e-17 -0.0119 0.02545"/>
    <parent link="link_8"/>
    <child link="link_9"/>
    <axis xyz="0 0 1"/>
    <limit effort="15" lower="0" upper="1.65" velocity="20"/>
    <dynamics damping="1" friction="0.5"/>
    <gazebo>
      <implicitSpringDamper> true </implicitSpringDamper>
    </gazebo>
  </joint>
  <!-- *************************************Transmission************************************** -->
  <transmission name="trans_9_0">
    <type>transmission_interface/SimpleTransmission</type>
    <joint name="joint_9_0">
      <hardwareInterface>hardware_interface/EffortJointInterface</hardwareInterface>
    </joint>
    <actuator name="motor_9_0">
      <mechanicalReduction>1</mechanicalReduction>
    </actuator>
  </transmission>
  <!-- *************************************Transmission************************************** -->
  <joint name="joint_8_0" type="revolute">
    <origin rpy="0.0872665 4.16334e-17 1.5708" xyz="0.0435377 0.034 -0.00553922"/>
    <parent link="palm_link"/>
    <child link="link_8"/>
    <axis xyz="0 0 1"/>
    <limit effort="15" lower="-0.45" upper="0.55" velocity="20"/>
    <dynamics damping="1" friction="0.5"/>
    <gazebo>
      <implicitSpringDamper> true </implicitSpringDamper>
    </gazebo>
  </joint>
  <!-- *************************************Transmission************************************** -->
  <transmission name="trans_8_0">
    <type>transmission_interface/SimpleTransmission</type>
    <joint name="joint_8_0">
      <hardwareInterface>hardware_interface/EffortJointInterface</hardwareInterface>
    </joint>
    <actuator name="motor_8_0">
      <mechanicalReduction>1</mechanicalReduction>
    </actuator>
  </transmission>
  <!-- *************************************Transmission************************************** -->
  <link name="link_12">
    <visual>
      <origin rpy="-2.48535e-33 -0.0872665 -2.25407e-32" xyz="0.0232805 -0.0182 -0.0808312"/>
      <geometry>
        <mesh filename="package://allegro_hand_description/meshes/f1_r.stl"/>
      </geometry>
      <material name="f1_r_material">
        <color rgba="0.129412 0.129412 0.129412 1.0"/>
      </material>
    </visual>
    <collision>
      <origin rpy="-2.48535e-33 -0.0872665 -2.25407e-32" xyz="0.0232805 -0.0182 -0.0808312"/>
      <geometry>
        <mesh filename="package://allegro_hand_description/meshes/f1_r.stl"/>
      </geometry>
      <material name="f1_r_material">
        <color rgba="0.129412 0.129412 0.129412 1.0"/>
      </material>
    </collision>
    <inertial>
      <origin rpy="0 0 0" xyz="-0.0151161 -0.00905831 -0.0192298"/>
      <mass value="0.0660275"/>
      <inertia ixx="1.44344e-05" ixy="1.24597e-06" ixz="3.47822e-08" iyy="1.76386e-05" iyz="6.49531e-07" izz="1.41981e-05"/>
    </inertial>
  </link>
  <link name="link_13">
    <visual>
      <origin rpy="1.5708 2.06898e-17 1.5708" xyz="-3.46945e-18 0 -0.0152"/>
      <geometry>
        <mesh filename="package://allegro_hand_description/meshes/extended_finger_base.stl"/>
      </geometry>
      <material name="extended_finger_base_material">
        <color rgba="0.647059 0.647059 0.647059 1.0"/>
      </material>
    </visual>
    <collision>
      <origin rpy="1.5708 2.06898e-17 1.5708" xyz="-3.46945e-18 0 -0.0152"/>
      <geometry>
        <mesh filename="package://allegro_hand_description/meshes/extended_finger_base.stl"/>
      </geometry>
      <material name="extended_finger_base_material">
        <color rgba="0.647059 0.647059 0.647059 1.0"/>
      </material>
    </collision>
    <inertial>
      <origin rpy="0 0 0" xyz="-0.000666149 -0.00041342 0.00960564"/>
      <mass value="0.0136672"/>
      <inertia ixx="1.671e-06" ixy="6.13056e-08" ixz="7.9563e-08" iyy="1.24411e-06" iyz="5.86704e-10" izz="2.13441e-06"/>
    </inertial>
  </link>
  <link name="link_14">
    <visual>
      <origin rpy="-1.5708 -6.24879e-32 0.0872665" xyz="0.0787805 -0.0716312 0.0251"/>
      <geometry>
        <mesh filename="package://allegro_hand_description/meshes/f3_r.stl"/>
      </geometry>
      <material name="f3_r_material">
        <color rgba="0.129412 0.129412 0.129412 1.0"/>
      </material>
    </visual>
    <collision>
      <origin rpy="-1.5708 -6.24879e-32 0.0872665" xyz="0.0787805 -0.0716312 0.0251"/>
      <geometry>
        <mesh filename="package://allegro_hand_description/meshes/f3_r.stl"/>
      </geometry>
      <material name="f3_r_material">
        <color rgba="0.129412 0.129412 0.129412 1.0"/>
      </material>
    </collision>
    <inertial>
      <origin rpy="0 0 0" xyz="-0.0169218 0.00050045 0.012098"/>
      <mass value="0.0307701"/>
      <inertia ixx="3.26297e-06" ixy="-7.80105e-07" ixz="4.19183e-07" iyy="9.45316e-06" iyz="7.40454e-08" izz="8.27249e-06"/>
    </inertial>
  </link>
  <link name="link_15">
    <visual>
      <origin rpy="-1.5708 -4.16204e-32 0.0872665" xyz="0.13018 -0.0716312 0.0252"/>
      <geometry>
        <mesh filename="package://allegro_hand_description/meshes/f4_r.stl"/>
      </geometry>
      <material name="f4_r_material">
        <color rgba="0.2 0.2 0.2 1.0"/>
      </material>
    </visual>
    <collision>
      <origin rpy="-1.5708 -4.16204e-32 0.0872665" xyz="0.13018 -0.0716312 0.0252"/>
      <geometry>
        <mesh filename="package://allegro_hand_description/meshes/f4_r.stl"/>
      </geometry>
      <material name="f4_r_material">
        <color rgba="0.2 0.2 0.2 1.0"/>
      </material>
    </collision>
    <inertial>
      <origin rpy="0 0 0" xyz="-0.0146717 0.000106021 0.012196"/>
      <mass value="0.0326938"/>
      <inertia ixx="2.85763e-06" ixy="-2.76566e-07" ixz="3.76274e-07" iyy="6.11217e-06" iyz="5.74019e-08" izz="5.36876e-06"/>
    </inertial>
  </link>
  <link name="tft_bracket">
    <visual>
      <origin rpy="-3.14159 -8.50715e-32 5.33917e-18" xyz="-0.1139 -0.004 0.0135"/>
      <geometry>
        <mesh filename="package://allegro_hand_description/meshes/distal_pcbbase.stl"/>
      </geometry>
      <material name="distal_pcbbase_material">
        <color rgba="1 0.756863 0.054902 1.0"/>
      </material>
    </visual>
    <collision>
      <origin rpy="-3.14159 -8.50715e-32 5.33917e-18" xyz="-0.1139 -0.004 0.0135"/>
      <geometry>
        <mesh filename="package://allegro_hand_description/meshes/distal_pcbbase.stl"/>
      </geometry>
      <material name="distal_pcbbase_material">
        <color rgba="1 0.756863 0.054902 1.0"/>
      </material>
    </collision>
    <inertial>
      <origin rpy="0 0 0" xyz="0.0170719 -0.00112911 0.0135244"/>
      <mass value="0.0155109"/>
      <inertia ixx="3.339e-06" ixy="-4.60426e-07" ixz="1.73449e-08" iyy="6.13257e-06" iyz="-6.39964e-10" izz="4.49513e-06"/>
    </inertial>
  </link>
  <link name="thumb_fingertip_main_fpcb">
    <visual>
      <origin rpy="-3.14159 1.09657e-31 8.05637e-18" xyz="-0.12166 0.01366 6.93889e-18"/>
      <geometry>
        <mesh filename="package://allegro_hand_description/meshes/distal_fpcb_1.stl"/>
      </geometry>
      <material name="distal_fpcb_1_material">
        <color rgba="0.768627 0.886275 0.952941 1.0"/>
      </material>
    </visual>
    <collision>
      <origin rpy="-3.14159 1.09657e-31 8.05637e-18" xyz="-0.12166 0.01366 6.93889e-18"/>
      <geometry>
        <mesh filename="package://allegro_hand_description/meshes/distal_fpcb_1.stl"/>
      </geometry>
      <material name="distal_fpcb_1_material">
        <color rgba="0.768627 0.886275 0.952941 1.0"/>
      </material>
    </collision>
    <inertial>
      <origin rpy="0 0 0" xyz="0.0183062 0.0208616 2.89858e-05"/>
      <mass value="0.00142203"/>
      <inertia ixx="3.14637e-07" ixy="-2.70173e-08" ixz="2.90739e-11" iyy="3.18951e-07" iyz="-3.25215e-10" izz="4.09623e-07"/>
    </inertial>
  </link>
  <joint name="joint_thumb_fingertip_main_fpcb" type="fixed">
    <origin rpy="8.63584e-16 -5.01319e-16 5.12794e-18" xyz="0.00776046 -0.01766 0.0135"/>
    <parent link="tft_bracket"/>
    <child link="thumb_fingertip_main_fpcb"/>
    <axis xyz="0 0 1"/>
    <limit effort="1" velocity="20"/>
    <joint_properties friction="0.0"/>
  </joint>
  <link name="thumb_fingertip_side_fpcb">
    <visual>
      <origin rpy="4.39229e-31 9.58935e-32 3.22237e-18" xyz="-0.153816 0.0136001 -0.0162593"/>
      <geometry>
        <mesh filename="package://allegro_hand_description/meshes/distal_fpcb_2.stl"/>
      </geometry>
      <material name="distal_fpcb_2_material">
        <color rgba="0.972549 0.529412 0.00392157 1.0"/>
      </material>
    </visual>
    <collision>
      <origin rpy="4.39229e-31 9.58935e-32 3.22237e-18" xyz="-0.153816 0.0136001 -0.0162593"/>
      <geometry>
        <mesh filename="package://allegro_hand_description/meshes/distal_fpcb_2.stl"/>
      </geometry>
      <material name="distal_fpcb_2_material">
        <color rgba="0.972549 0.529412 0.00392157 1.0"/>
      </material>
    </collision>
    <inertial>
      <origin rpy="0 0 0" xyz="-0.0175916 0.00317983 -0.0164175"/>
      <mass value="0.00128609"/>
      <inertia ixx="3.5341e-07" ixy="2.54188e-08" ixz="-2.1826e-09" iyy="3.67946e-07" iyz="1.2158e-09" izz="1.99436e-07"/>
    </inertial>
  </link>
  <joint name="joint_thumb_fingertip_side_fpcb" type="fixed">
    <origin rpy="-3.14159 -9.5307e-16 5.18075e-18" xyz="0.0399163 0.0096 -0.00275858"/>
    <parent link="tft_bracket"/>
    <child link="thumb_fingertip_side_fpcb"/>
    <axis xyz="0 0 1"/>
    <limit effort="1" velocity="20"/>
    <joint_properties friction="0.0"/>
  </joint>
  <joint name="joint_thumb_fingertip_bracket" type="fixed">
    <origin rpy="3.14159 5.80134e-16 -3.14159" xyz="-0.0291 0.0037 0.0253"/>
    <parent link="link_15"/>
    <child link="tft_bracket"/>
    <axis xyz="0 0 1"/>
    <limit effort="1" velocity="20"/>
    <joint_properties friction="0.0"/>
  </joint>
  <joint name="joint_15_0" type="revolute">
    <origin rpy="-4.53557e-16 3.39461e-16 2.07948e-13" xyz="-0.0514 -9.00668e-15 -0.0001"/>
    <parent link="link_14"/>
    <child link="link_15"/>
    <axis xyz="0 0 1"/>
    <limit effort="15" lower="0" upper="1.7" velocity="20"/>
    <dynamics damping="1" friction="0.5"/>
    <gazebo>
      <implicitSpringDamper> true </implicitSpringDamper>
    </gazebo>
  </joint>
  <!-- *************************************Transmission************************************** -->
  <transmission name="trans_15_0">
    <type>transmission_interface/SimpleTransmission</type>
    <joint name="joint_15_0">
      <hardwareInterface>hardware_interface/EffortJointInterface</hardwareInterface>
    </joint>
    <actuator name="motor_15_0">
      <mechanicalReduction>1</mechanicalReduction>
    </actuator>
  </transmission>
  <!-- *************************************Transmission************************************** -->
  <link name="tmb_bracket">
    <visual>
      <origin rpy="1.5708 2.25088e-31 -7.6622e-21" xyz="0.004 0.0329 0.014"/>
      <geometry>
        <mesh filename="package://allegro_hand_description/meshes/thumb_medial_back_bracket.stl"/>
      </geometry>
      <material name="thumb_medial_back_bracket_material">
        <color rgba="0.917647 0.917647 0.917647 1.0"/>
      </material>
    </visual>
    <collision>
      <origin rpy="1.5708 2.25088e-31 -7.6622e-21" xyz="0.004 0.0329 0.014"/>
      <geometry>
        <mesh filename="package://allegro_hand_description/meshes/thumb_medial_back_bracket.stl"/>
      </geometry>
      <material name="thumb_medial_back_bracket_material">
        <color rgba="0.917647 0.917647 0.917647 1.0"/>
      </material>
    </collision>
    <inertial>
      <origin rpy="0 0 0" xyz="-0.00600734 0.00588203 0.0181482"/>
      <mass value="0.00473763"/>
      <inertia ixx="1.11799e-06" ixy="-2.9649e-08" ixz="1.65587e-07" iyy="9.60308e-07" iyz="-6.32913e-08" izz="7.92445e-07"/>
    </inertial>
  </link>
  <link name="thumb_medial_back_fpcb">
    <visual>
      <origin rpy="3.14159 -5.47552e-15 -1.15148e-31" xyz="0.0148 -0.014 0.0052"/>
      <geometry>
        <mesh filename="package://allegro_hand_description/meshes/part_5.stl"/>
      </geometry>
      <material name="part_5_material">
        <color rgba="0.498039 0.498039 0.498039 1.0"/>
      </material>
    </visual>
    <collision>
      <origin rpy="3.14159 -5.47552e-15 -1.15148e-31" xyz="0.0148 -0.014 0.0052"/>
      <geometry>
        <mesh filename="package://allegro_hand_description/meshes/part_5.stl"/>
      </geometry>
      <material name="part_5_material">
        <color rgba="0.498039 0.498039 0.498039 1.0"/>
      </material>
    </collision>
    <inertial>
      <origin rpy="0 0 0" xyz="0.00190074 -0.0175205 -0.0182577"/>
      <mass value="0.000612423"/>
      <inertia ixx="1.31741e-07" ixy="2.80463e-08" ixz="-2.97582e-10" iyy="9.0628e-08" iyz="-2.06208e-08" izz="1.18557e-07"/>
    </inertial>
  </link>
  <joint name="joint_thumb_medial_back_fpcb" type="fixed">
    <origin rpy="-1.5708 7.27098e-31 -7.93211e-15" xyz="-0.0108 0.0277 -2.68882e-17"/>
    <parent link="tmb_bracket"/>
    <child link="thumb_medial_back_fpcb"/>
    <axis xyz="0 0 1"/>
    <limit effort="1" velocity="20"/>
    <joint_properties friction="0.0"/>
  </joint>
  <joint name="joint_thumb_medial_back_bracket" type="fixed">
    <origin rpy="-6.46681e-16 -1.5186e-15 -1.5708" xyz="-0.0249 0.004 -0.0022"/>
    <parent link="link_14"/>
    <child link="tmb_bracket"/>
    <axis xyz="0 0 1"/>
    <limit effort="1" velocity="20"/>
    <joint_properties friction="0.0"/>
  </joint>
  <link name="tmf_bracket">
    <visual>
      <origin rpy="-1.5708 -2.03975e-31 -2.00332e-19" xyz="-0.004 -0.0329 0.014"/>
      <geometry>
        <mesh filename="package://allegro_hand_description/meshes/thumb_medial_front_bracket.stl"/>
      </geometry>
      <material name="thumb_medial_front_bracket_material">
        <color rgba="0.917647 0.917647 0.917647 1.0"/>
      </material>
    </visual>
    <collision>
      <origin rpy="-1.5708 -2.03975e-31 -2.00332e-19" xyz="-0.004 -0.0329 0.014"/>
      <geometry>
        <mesh filename="package://allegro_hand_description/meshes/thumb_medial_front_bracket.stl"/>
      </geometry>
      <material name="thumb_medial_front_bracket_material">
        <color rgba="0.917647 0.917647 0.917647 1.0"/>
      </material>
    </collision>
    <inertial>
      <origin rpy="0 0 0" xyz="0.00534582 -0.00527635 0.0171061"/>
      <mass value="0.0040514"/>
      <inertia ixx="9.13083e-07" ixy="-5.82508e-09" ixz="-1.21819e-07" iyy="6.82814e-07" iyz="1.23951e-07" izz="5.97236e-07"/>
    </inertial>
  </link>
  <link name="thumb_medial_front_fpcb">
    <visual>
      <origin rpy="7.38033e-33 1.42291e-18 -4.44322e-31" xyz="-0.0140023 -0.007 -0.0052"/>
      <geometry>
        <mesh filename="package://allegro_hand_description/meshes/part_6.stl"/>
      </geometry>
      <material name="part_6_material">
        <color rgba="0.980392 0.713725 0.00392157 1.0"/>
      </material>
    </visual>
    <collision>
      <origin rpy="7.38033e-33 1.42291e-18 -4.44322e-31" xyz="-0.0140023 -0.007 -0.0052"/>
      <geometry>
        <mesh filename="package://allegro_hand_description/meshes/part_6.stl"/>
      </geometry>
      <material name="part_6_material">
        <color rgba="0.980392 0.713725 0.00392157 1.0"/>
      </material>
    </collision>
    <inertial>
      <origin rpy="0 0 0" xyz="-0.00221105 -0.0114519 0.0177349"/>
      <mass value="0.000462123"/>
      <inertia ixx="7.18561e-08" ixy="-1.49488e-08" ixz="-9.74587e-10" iyy="5.37528e-08" iyz="8.76508e-09" izz="5.33116e-08"/>
    </inertial>
  </link>
  <joint name="joint_thumb_medial_front_fpcb" type="fixed">
    <origin rpy="-1.5708 -5.1393e-32 5.59764e-15" xyz="0.0100023 -0.0277 0.007"/>
    <parent link="tmf_bracket"/>
    <child link="thumb_medial_front_fpcb"/>
    <axis xyz="0 0 1"/>
    <limit effort="1" velocity="20"/>
    <joint_properties friction="0.0"/>
  </joint>
  <joint name="joint_thumb_medial_front_bracket" type="fixed">
    <origin rpy="3.14159 -7.73741e-17 -1.5708" xyz="-0.0249 -0.004 0.0258"/>
    <parent link="link_14"/>
    <child link="tmf_bracket"/>
    <axis xyz="0 0 1"/>
    <limit effort="1" velocity="20"/>
    <joint_properties friction="0.0"/>
  </joint>
  <joint name="joint_14_0" type="revolute">
    <origin rpy="3.14159 1.5708 0" xyz="0.0119 -1.38778e-17 0.02545"/>
    <parent link="link_13"/>
    <child link="link_14"/>
    <axis xyz="0 0 1"/>
    <limit effort="15" lower="0" upper="1.45" velocity="20"/>
    <dynamics damping="1" friction="0.5"/>
    <gazebo>
      <implicitSpringDamper> true </implicitSpringDamper>
    </gazebo>
  </joint>
  <!-- *************************************Transmission************************************** -->
  <transmission name="trans_14_0">
    <type>transmission_interface/SimpleTransmission</type>
    <joint name="joint_14_0">
      <hardwareInterface>hardware_interface/EffortJointInterface</hardwareInterface>
    </joint>
    <actuator name="motor_14_0">
      <mechanicalReduction>1</mechanicalReduction>
    </actuator>
  </transmission>
  <!-- *************************************Transmission************************************** -->
  <joint name="joint_13_0" type="revolute">
    <origin rpy="-1.5708 -3.01469e-15 1.5708" xyz="-0.0375 -0.005 -0.0092"/>
    <parent link="link_12"/>
    <child link="link_13"/>
    <axis xyz="0 0 1"/>
    <limit effort="15" lower="-1.3" upper="1.15" velocity="20"/>
    <dynamics damping="1" friction="0.5"/>
    <gazebo>
      <implicitSpringDamper> true </implicitSpringDamper>
    </gazebo>
  </joint>
  <!-- *************************************Transmission************************************** -->
  <transmission name="trans_13_0">
    <type>transmission_interface/SimpleTransmission</type>
    <joint name="joint_13_0">
      <hardwareInterface>hardware_interface/EffortJointInterface</hardwareInterface>
    </joint>
    <actuator name="motor_13_0">
      <mechanicalReduction>1</mechanicalReduction>
    </actuator>
  </transmission>
  <!-- *************************************Transmission************************************** -->
  <joint name="joint_12_0" type="revolute">
    <origin rpy="-3.14159 -0.0872665 1.84398e-16" xyz="-0.0161208 0.0158 -0.0848515"/>
    <parent link="palm_link"/>
    <child link="link_12"/>
    <axis xyz="0 0 1"/>
    <limit effort="15" lower="0.35" upper="1.57" velocity="20"/>
    <dynamics damping="1" friction="0.5"/>
    <gazebo>
      <implicitSpringDamper> true </implicitSpringDamper>
    </gazebo>
  </joint>
  <!-- *************************************Transmission************************************** -->
  <transmission name="trans_12_0">
    <type>transmission_interface/SimpleTransmission</type>
    <joint name="joint_12_0">
      <hardwareInterface>hardware_interface/EffortJointInterface</hardwareInterface>
    </joint>
    <actuator name="motor_12_0">
      <mechanicalReduction>1</mechanicalReduction>
    </actuator>
  </transmission>
  <!-- *************************************Transmission************************************** -->
  <link name="boh_bracket">
    <visual>
      <origin rpy="-1.5708 -1.5708 0" xyz="0.02 0.007 0.0435"/>
      <geometry>
        <mesh filename="package://allegro_hand_description/meshes/part_4.stl"/>
      </geometry>
      <material name="part_4_material">
        <color rgba="0.980392 0.713725 0.00392157 1.0"/>
      </material>
    </visual>
    <collision>
      <origin rpy="-1.5708 -1.5708 0" xyz="0.02 0.007 0.0435"/>
      <geometry>
        <mesh filename="package://allegro_hand_description/meshes/part_4.stl"/>
      </geometry>
      <material name="part_4_material">
        <color rgba="0.980392 0.713725 0.00392157 1.0"/>
      </material>
    </collision>
    <inertial>
      <origin rpy="0 0 0" xyz="0.0205425 -0.0333769 -0.00325"/>
      <mass value="0.0385521"/>
      <inertia ixx="5.89511e-05" ixy="3.11147e-09" ixz="-3.78027e-07" iyy="9.09733e-05" iyz="4.84151e-09" izz="3.60656e-05"/>
    </inertial>
  </link>
  <link name="boh">
    <visual>
      <origin rpy="-1.5708 -1.5708 0" xyz="3.94708e-06 0.038896 0.0528"/>
      <geometry>
        <mesh filename="package://allegro_hand_description/meshes/boh_fpcb.stl"/>
      </geometry>
      <material name="boh_fpcb_material">
        <color rgba="0.615686 0.811765 0.929412 1.0"/>
      </material>
    </visual>
    <collision>
      <origin rpy="-1.5708 -1.5708 0" xyz="3.94708e-06 0.038896 0.0528"/>
      <geometry>
        <mesh filename="package://allegro_hand_description/meshes/boh_fpcb.stl"/>
      </geometry>
      <material name="boh_fpcb_material">
        <color rgba="0.615686 0.811765 0.929412 1.0"/>
      </material>
    </collision>
    <inertial>
      <origin rpy="0 0 0" xyz="3.00678e-07 -0.00328019 -3.42586e-05"/>
      <mass value="0.00784811"/>
      <inertia ixx="7.95811e-06" ixy="6.60039e-08" ixz="1.42447e-09" iyy="1.30113e-05" iyz="-6.22082e-12" izz="5.06377e-06"/>
    </inertial>
  </link>
  <joint name="joint_boh" type="fixed">
    <origin rpy="0 -0 0" xyz="0.019996 -0.0318962 -0.0093"/>
    <parent link="boh_bracket"/>
    <child link="boh"/>
    <axis xyz="0 0 1"/>
    <limit effort="1" velocity="20"/>
    <joint_properties friction="0.0"/>
  </joint>
  <joint name="joint_boh_bracket" type="fixed">
    <origin rpy="1.5708 -0 3.14159" xyz="0.02 -0.0094 -0.009"/>
    <parent link="palm_link"/>
    <child link="boh_bracket"/>
    <axis xyz="0 0 1"/>
    <limit effort="1" velocity="20"/>
    <joint_properties friction="0.0"/>
  </joint>
  <link name="palm_bracket">
    <visual>
      <origin rpy="1.5708 1.5708 0" xyz="-0.000254584 -0.095 0.0113"/>
      <geometry>
        <mesh filename="package://allegro_hand_description/meshes/palm_bracket.stl"/>
      </geometry>
      <material name="palm_bracket_material">
        <color rgba="0.231373 0.380392 0.705882 1.0"/>
      </material>
    </visual>
    <collision>
      <origin rpy="1.5708 1.5708 0" xyz="-0.000254584 -0.095 0.0113"/>
      <geometry>
        <mesh filename="package://allegro_hand_description/meshes/palm_bracket.stl"/>
      </geometry>
      <material name="palm_bracket_material">
        <color rgba="0.231373 0.380392 0.705882 1.0"/>
      </material>
    </collision>
    <inertial>
      <origin rpy="0 0 0" xyz="-0.0117692 -0.0440058 -0.00328358"/>
      <mass value="0.0366468"/>
      <inertia ixx="3.0726e-05" ixy="3.33674e-07" ixz="-2.90867e-06" iyy="5.36054e-05" iyz="1.29147e-07" izz="2.31158e-05"/>
    </inertial>
  </link>
  <link name="palm_fpcb">
    <visual>
      <origin rpy="1.5708 1.5708 0" xyz="0.02 -0.007 0.0173"/>
      <geometry>
        <mesh filename="package://allegro_hand_description/meshes/palm_fpcb.stl"/>
      </geometry>
      <material name="palm_fpcb_material">
        <color rgba="0.972549 0.529412 0.00392157 1.0"/>
      </material>
    </visual>
    <collision>
      <origin rpy="1.5708 1.5708 0" xyz="0.02 -0.007 0.0173"/>
      <geometry>
        <mesh filename="package://allegro_hand_description/meshes/palm_fpcb.stl"/>
      </geometry>
      <material name="palm_fpcb_material">
        <color rgba="0.972549 0.529412 0.00392157 1.0"/>
      </material>
    </collision>
    <inertial>
      <origin rpy="0 0 0" xyz="0.0127906 0.0241481 0.000227194"/>
      <mass value="0.00098458"/>
      <inertia ixx="7.85784e-07" ixy="-7.28774e-09" ixz="-1.89434e-07" iyy="1.25428e-06" iyz="-2.66202e-09" izz="4.70119e-07"/>
    </inertial>
  </link>
  <joint name="joint_palm_fpcb" type="fixed">
    <origin rpy="0 -0 0" xyz="-0.0202546 -0.088 -0.006"/>
    <parent link="palm_bracket"/>
    <child link="palm_fpcb"/>
    <axis xyz="0 0 1"/>
    <limit effort="1" velocity="20"/>
    <joint_properties friction="0.0"/>
  </joint>
  <joint name="joint_palm_bracket" type="fixed">
    <origin rpy="-1.5708 -0 3.14159" xyz="-0.000254584 0.0453 -0.097"/>
    <parent link="palm_link"/>
    <child link="palm_bracket"/>
    <axis xyz="0 0 1"/>
    <limit effort="1" velocity="20"/>
    <joint_properties friction="0.0"/>
  </joint>
  <link name="tcp"/>
  <joint name="tcp_to_gripper" type="fixed">
    <parent link="tool0"/>
    <child link="tcp"/>
    <origin rpy="0 0 0" xyz="0 0 0.165"/>
  </joint>
  <!-- OBJECT TO GRASP -->
  <link name="cubic_object_link">
    <visual>
      <origin rpy="0 -0 1.5708" xyz="0 0 0"/>
      <geometry>
        <mesh filename="package://coro_descriptions/meshes/cubic_object.stl"/>
      </geometry>
      <material name="link_testing_cube_material">
        <color rgba="0.615686 0.811765 0.929412 1.0"/>
      </material>
    </visual>
    <collision>
      <origin rpy="0 -0 1.5708" xyz="0 0 0"/>
      <geometry>
        <mesh filename="package://coro_descriptions/meshes/cubic_object.stl"/>
      </geometry>
      <material name="link_testing_cube_material">
        <color rgba="0.615686 0.811765 0.929412 1.0"/>
      </material>
    </collision>
    <inertial>
      <origin rpy="0 0 0" xyz="-1.02566e-17 9.23364e-19 0.1075"/>
      <mass value="0.0770781"/>
      <inertia ixx="0.000307188" ixy="0" ixz="0" iyy="0.000307188" iyz="0" izz="2.05542e-05"/>
    </inertial>
  </link>
  <joint name="object_to_table" type="fixed">
    <origin rpy="0 0 0" xyz="0.004217 -0.201201 1.016225"/>
    <parent link="table_base"/>
    <child link="cubic_object_link"/>
  </joint>
  <!-- GAZEBO -->
  <gazebo>
    <plugin filename="libgazebo_ros_control.so" name="gazebo_ros_control">
      <robotNamespace>/</robotNamespace>
      <robotSimType>gazebo_ros_control/DefaultRobotHWSim</robotSimType>
    </plugin>
  </gazebo>
</robot>
